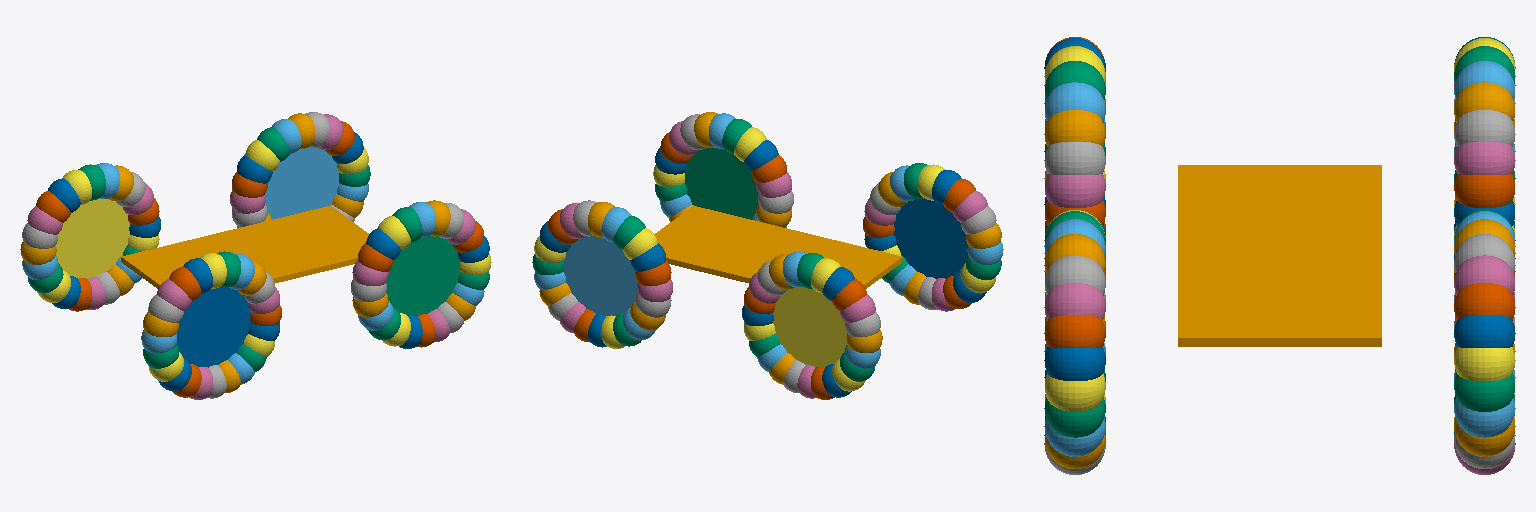
--- Render facts (derived) ---
3 views of the same robot in one strip: view 1: azimuth 30°, elevation 25°; view 2: azimuth 150°, elevation 25°; view 3: azimuth 270°, elevation 25° (orthographic).
Model omni_wheel_base with 101 links and 100 joints (100 continuous), rooted at base, posed every joint at zero.
Visible links, largest first — view 1: base, rear_right_main_wheel, rear_left_main_wheel, front_right_main_wheel, front_left_main_wheel, rear_right_wheel_10, front_left_wheel_10, front_right_wheel_10, rear_left_wheel_10, front_left_wheel_11, front_right_wheel_11, rear_right_wheel_11 (+21 smaller); view 2: base, rear_left_main_wheel, rear_right_main_wheel, front_left_main_wheel, front_right_main_wheel, rear_left_wheel_10, front_left_wheel_10, front_right_wheel_10, rear_right_wheel_10, front_left_wheel_11, front_right_wheel_11, rear_left_wheel_11 (+21 smaller); view 3: base, front_left_wheel_3, front_right_wheel_3, rear_left_wheel_3, rear_right_wheel_3, front_left_wheel_2, front_right_wheel_2, rear_left_wheel_2, rear_right_wheel_2, rear_left_wheel_4, rear_right_wheel_4, front_left_wheel_4 (+23 smaller).
Link boxes in pixels (bbox=[...]): base: bbox=[121, 206, 368, 288]; rear_right_main_wheel: bbox=[177, 287, 250, 367]; rear_left_main_wheel: bbox=[56, 198, 129, 278]; front_right_main_wheel: bbox=[386, 236, 459, 315]; front_left_main_wheel: bbox=[265, 148, 338, 219]; rear_right_wheel_10: bbox=[157, 279, 191, 310]; front_left_wheel_10: bbox=[245, 140, 279, 171]; front_right_wheel_10: bbox=[366, 228, 400, 259]; rear_left_wheel_10: bbox=[36, 191, 70, 222]; front_left_wheel_11: bbox=[237, 155, 272, 183]; front_right_wheel_11: bbox=[358, 243, 393, 271]; rear_right_wheel_11: bbox=[148, 294, 183, 322]; base: bbox=[655, 206, 902, 288]; rear_left_main_wheel: bbox=[773, 287, 846, 367]; rear_right_main_wheel: bbox=[894, 198, 967, 278]; front_left_main_wheel: bbox=[564, 236, 637, 315]; front_right_main_wheel: bbox=[685, 148, 758, 219]; rear_left_wheel_10: bbox=[832, 279, 866, 310]; front_left_wheel_10: bbox=[623, 228, 657, 259]; front_right_wheel_10: bbox=[744, 140, 778, 171]; rear_right_wheel_10: bbox=[953, 191, 987, 222]; front_left_wheel_11: bbox=[630, 243, 665, 271]; front_right_wheel_11: bbox=[751, 155, 786, 183]; rear_left_wheel_11: bbox=[840, 294, 875, 322]; base: bbox=[1178, 165, 1381, 346]; front_left_wheel_3: bbox=[1454, 315, 1515, 347]; front_right_wheel_3: bbox=[1044, 315, 1105, 347]; rear_left_wheel_3: bbox=[1454, 142, 1515, 174]; rear_right_wheel_3: bbox=[1044, 142, 1105, 174]; front_left_wheel_2: bbox=[1454, 347, 1515, 380]; front_right_wheel_2: bbox=[1044, 347, 1105, 380]; rear_left_wheel_2: bbox=[1454, 174, 1514, 207]; rear_right_wheel_2: bbox=[1045, 174, 1105, 207]; rear_left_wheel_4: bbox=[1454, 110, 1515, 146]; rear_right_wheel_4: bbox=[1044, 110, 1105, 146]; front_left_wheel_4: bbox=[1454, 283, 1515, 320].
Bounding box of the posed robot: 6.6 × 4.6 × 2.6 m (x, y, z).
Geometry: primitives only (box / cylinder / sphere), no mesh files.

URDF robot description (omni_wheel_base):
<?xml version="1.0" ?>
<!-- =================================================================================== -->
<!-- |    This document was autogenerated by xacro from objects/omni_wheel.urdf.xacro  | -->
<!-- |    EDITING THIS FILE BY HAND IS NOT RECOMMENDED                                 | -->
<!-- =================================================================================== -->
<robot name="omni_wheel_base">
  <link name="base">
    <inertial>
      <mass value="10.0"/>
      <origin xyz="0 0 0"/>
      <inertia ixx="1.0" ixy="0.0" ixz="0.0" iyy="1.0" iyz="0.0" izz="1.0"/>
    </inertial>
    <visual>
      <origin rpy="0 0 0" xyz="0 0 0"/>
      <geometry>
        <box size="4.0 2.0 0.1"/>
      </geometry>
    </visual>
    <collision>
      <origin rpy="0 0 0" xyz="0 0 0"/>
      <geometry>
        <box size="4.0 2.0 0.1"/>
      </geometry>
    </collision>
  </link>
  <gazebo>
    <pose>0 0 1.2 0 0 0</pose>
  </gazebo>
  <gazebo reference="base">
    <material>Gazebo/Blue</material>
    <turnGravityOff>false</turnGravityOff>
  </gazebo>
  <link name="front_left_main_wheel">
    <inertial>
      <origin xyz="0 0 0"/>
      <mass value="1.0"/>
      <inertia ixx="1.0" ixy="0.0" ixz="0.0" iyy="1.0" iyz="0.0" izz="1.0"/>
    </inertial>
    <visual>
      <origin rpy="0 0 0" xyz="0 0 0"/>
      <geometry>
        <cylinder length="0.1" radius="1"/>
      </geometry>
    </visual>
    <collision>
      <origin rpy="0 0 0 " xyz="0 0 0"/>
      <geometry>
        <cylinder length="0.1" radius="1"/>
      </geometry>
    </collision>
  </link>
  <gazebo reference="front_left_main_wheel_joint">
    <cfm_damping>1</cfm_damping>
  </gazebo>
  <joint name="front_left_main_wheel_joint" type="continuous">
    <parent link="base"/>
    <child link="front_left_main_wheel"/>
    <axis xyz="0 0 1"/>
    <origin rpy="1.57079632679 0 0" xyz="2 2 0"/>
    <dynamics damping="1.0"/>
  </joint>
  <gazebo reference="main_wheel">
    <material>Gazebo/Blue</material>
    <turnGravityOff>false</turnGravityOff>
  </gazebo>
  <link name="front_left_wheel_1">
    <inertial>
      <origin xyz="0 0 0"/>
      <mass value="1.0"/>
      <inertia ixx="1.0" ixy="0.0" ixz="0.0" iyy="1.0" iyz="0.0" izz="1.0"/>
    </inertial>
    <visual>
      <origin rpy="0 0 0" xyz="0 0 0"/>
      <geometry>
        <sphere radius="0.3"/>
      </geometry>
    </visual>
    <collision>
      <origin rpy="0 0 0 " xyz="0 0 0"/>
      <geometry>
        <sphere radius="0.3"/>
      </geometry>
    </collision>
  </link>
  <gazebo reference="front_left_wheel_1">
    <material>Gazebo/Red</material>
    <turnGravityOff>false</turnGravityOff>
  </gazebo>
  <gazebo reference="front_left_wheel_1_joint">
    <cfm_damping>1</cfm_damping>
  </gazebo>
  <joint name="front_left_wheel_1_joint" type="continuous">
    <parent link="front_left_main_wheel"/>
    <child link="front_left_wheel_1"/>
    <origin rpy="0 0 0" xyz="1.000000 0.000000 0.000000"/>
    <axis xyz="0.000000 0.707107 0.707107"/>
    <dynamics damping="1.0"/>
  </joint>
  <link name="front_left_wheel_2">
    <inertial>
      <origin xyz="0 0 0"/>
      <mass value="1.0"/>
      <inertia ixx="1.0" ixy="0.0" ixz="0.0" iyy="1.0" iyz="0.0" izz="1.0"/>
    </inertial>
    <visual>
      <origin rpy="0 0 0" xyz="0 0 0"/>
      <geometry>
        <sphere radius="0.3"/>
      </geometry>
    </visual>
    <collision>
      <origin rpy="0 0 0 " xyz="0 0 0"/>
      <geometry>
        <sphere radius="0.3"/>
      </geometry>
    </collision>
  </link>
  <gazebo reference="front_left_wheel_2">
    <material>Gazebo/Red</material>
    <turnGravityOff>false</turnGravityOff>
  </gazebo>
  <gazebo reference="front_left_wheel_2_joint">
    <cfm_damping>1</cfm_damping>
  </gazebo>
  <joint name="front_left_wheel_2_joint" type="continuous">
    <parent link="front_left_main_wheel"/>
    <child link="front_left_wheel_2"/>
    <origin rpy="0 0 0" xyz="0.965926 0.258819 0.000000"/>
    <axis xyz="-0.183013 0.683013 0.707107"/>
    <dynamics damping="1.0"/>
  </joint>
  <link name="front_left_wheel_3">
    <inertial>
      <origin xyz="0 0 0"/>
      <mass value="1.0"/>
      <inertia ixx="1.0" ixy="0.0" ixz="0.0" iyy="1.0" iyz="0.0" izz="1.0"/>
    </inertial>
    <visual>
      <origin rpy="0 0 0" xyz="0 0 0"/>
      <geometry>
        <sphere radius="0.3"/>
      </geometry>
    </visual>
    <collision>
      <origin rpy="0 0 0 " xyz="0 0 0"/>
      <geometry>
        <sphere radius="0.3"/>
      </geometry>
    </collision>
  </link>
  <gazebo reference="front_left_wheel_3">
    <material>Gazebo/Red</material>
    <turnGravityOff>false</turnGravityOff>
  </gazebo>
  <gazebo reference="front_left_wheel_3_joint">
    <cfm_damping>1</cfm_damping>
  </gazebo>
  <joint name="front_left_wheel_3_joint" type="continuous">
    <parent link="front_left_main_wheel"/>
    <child link="front_left_wheel_3"/>
    <origin rpy="0 0 0" xyz="0.866025 0.500000 0.000000"/>
    <axis xyz="-0.353553 0.612372 0.707107"/>
    <dynamics damping="1.0"/>
  </joint>
  <link name="front_left_wheel_4">
    <inertial>
      <origin xyz="0 0 0"/>
      <mass value="1.0"/>
      <inertia ixx="1.0" ixy="0.0" ixz="0.0" iyy="1.0" iyz="0.0" izz="1.0"/>
    </inertial>
    <visual>
      <origin rpy="0 0 0" xyz="0 0 0"/>
      <geometry>
        <sphere radius="0.3"/>
      </geometry>
    </visual>
    <collision>
      <origin rpy="0 0 0 " xyz="0 0 0"/>
      <geometry>
        <sphere radius="0.3"/>
      </geometry>
    </collision>
  </link>
  <gazebo reference="front_left_wheel_4">
    <material>Gazebo/Red</material>
    <turnGravityOff>false</turnGravityOff>
  </gazebo>
  <gazebo reference="front_left_wheel_4_joint">
    <cfm_damping>1</cfm_damping>
  </gazebo>
  <joint name="front_left_wheel_4_joint" type="continuous">
    <parent link="front_left_main_wheel"/>
    <child link="front_left_wheel_4"/>
    <origin rpy="0 0 0" xyz="0.707107 0.707107 0.000000"/>
    <axis xyz="-0.500000 0.500000 0.707107"/>
    <dynamics damping="1.0"/>
  </joint>
  <link name="front_left_wheel_5">
    <inertial>
      <origin xyz="0 0 0"/>
      <mass value="1.0"/>
      <inertia ixx="1.0" ixy="0.0" ixz="0.0" iyy="1.0" iyz="0.0" izz="1.0"/>
    </inertial>
    <visual>
      <origin rpy="0 0 0" xyz="0 0 0"/>
      <geometry>
        <sphere radius="0.3"/>
      </geometry>
    </visual>
    <collision>
      <origin rpy="0 0 0 " xyz="0 0 0"/>
      <geometry>
        <sphere radius="0.3"/>
      </geometry>
    </collision>
  </link>
  <gazebo reference="front_left_wheel_5">
    <material>Gazebo/Red</material>
    <turnGravityOff>false</turnGravityOff>
  </gazebo>
  <gazebo reference="front_left_wheel_5_joint">
    <cfm_damping>1</cfm_damping>
  </gazebo>
  <joint name="front_left_wheel_5_joint" type="continuous">
    <parent link="front_left_main_wheel"/>
    <child link="front_left_wheel_5"/>
    <origin rpy="0 0 0" xyz="0.500000 0.866025 0.000000"/>
    <axis xyz="-0.612372 0.353553 0.707107"/>
    <dynamics damping="1.0"/>
  </joint>
  <link name="front_left_wheel_6">
    <inertial>
      <origin xyz="0 0 0"/>
      <mass value="1.0"/>
      <inertia ixx="1.0" ixy="0.0" ixz="0.0" iyy="1.0" iyz="0.0" izz="1.0"/>
    </inertial>
    <visual>
      <origin rpy="0 0 0" xyz="0 0 0"/>
      <geometry>
        <sphere radius="0.3"/>
      </geometry>
    </visual>
    <collision>
      <origin rpy="0 0 0 " xyz="0 0 0"/>
      <geometry>
        <sphere radius="0.3"/>
      </geometry>
    </collision>
  </link>
  <gazebo reference="front_left_wheel_6">
    <material>Gazebo/Red</material>
    <turnGravityOff>false</turnGravityOff>
  </gazebo>
  <gazebo reference="front_left_wheel_6_joint">
    <cfm_damping>1</cfm_damping>
  </gazebo>
  <joint name="front_left_wheel_6_joint" type="continuous">
    <parent link="front_left_main_wheel"/>
    <child link="front_left_wheel_6"/>
    <origin rpy="0 0 0" xyz="0.258819 0.965926 0.000000"/>
    <axis xyz="-0.683013 0.183013 0.707107"/>
    <dynamics damping="1.0"/>
  </joint>
  <link name="front_left_wheel_7">
    <inertial>
      <origin xyz="0 0 0"/>
      <mass value="1.0"/>
      <inertia ixx="1.0" ixy="0.0" ixz="0.0" iyy="1.0" iyz="0.0" izz="1.0"/>
    </inertial>
    <visual>
      <origin rpy="0 0 0" xyz="0 0 0"/>
      <geometry>
        <sphere radius="0.3"/>
      </geometry>
    </visual>
    <collision>
      <origin rpy="0 0 0 " xyz="0 0 0"/>
      <geometry>
        <sphere radius="0.3"/>
      </geometry>
    </collision>
  </link>
  <gazebo reference="front_left_wheel_7">
    <material>Gazebo/Red</material>
    <turnGravityOff>false</turnGravityOff>
  </gazebo>
  <gazebo reference="front_left_wheel_7_joint">
    <cfm_damping>1</cfm_damping>
  </gazebo>
  <joint name="front_left_wheel_7_joint" type="continuous">
    <parent link="front_left_main_wheel"/>
    <child link="front_left_wheel_7"/>
    <origin rpy="0 0 0" xyz="0.000000 1.000000 0.000000"/>
    <axis xyz="-0.707107 0.000000 0.707107"/>
    <dynamics damping="1.0"/>
  </joint>
  <link name="front_left_wheel_8">
    <inertial>
      <origin xyz="0 0 0"/>
      <mass value="1.0"/>
      <inertia ixx="1.0" ixy="0.0" ixz="0.0" iyy="1.0" iyz="0.0" izz="1.0"/>
    </inertial>
    <visual>
      <origin rpy="0 0 0" xyz="0 0 0"/>
      <geometry>
        <sphere radius="0.3"/>
      </geometry>
    </visual>
    <collision>
      <origin rpy="0 0 0 " xyz="0 0 0"/>
      <geometry>
        <sphere radius="0.3"/>
      </geometry>
    </collision>
  </link>
  <gazebo reference="front_left_wheel_8">
    <material>Gazebo/Red</material>
    <turnGravityOff>false</turnGravityOff>
  </gazebo>
  <gazebo reference="front_left_wheel_8_joint">
    <cfm_damping>1</cfm_damping>
  </gazebo>
  <joint name="front_left_wheel_8_joint" type="continuous">
    <parent link="front_left_main_wheel"/>
    <child link="front_left_wheel_8"/>
    <origin rpy="0 0 0" xyz="-0.258819 0.965926 0.000000"/>
    <axis xyz="-0.683013 -0.183013 0.707107"/>
    <dynamics damping="1.0"/>
  </joint>
  <link name="front_left_wheel_9">
    <inertial>
      <origin xyz="0 0 0"/>
      <mass value="1.0"/>
      <inertia ixx="1.0" ixy="0.0" ixz="0.0" iyy="1.0" iyz="0.0" izz="1.0"/>
    </inertial>
    <visual>
      <origin rpy="0 0 0" xyz="0 0 0"/>
      <geometry>
        <sphere radius="0.3"/>
      </geometry>
    </visual>
    <collision>
      <origin rpy="0 0 0 " xyz="0 0 0"/>
      <geometry>
        <sphere radius="0.3"/>
      </geometry>
    </collision>
  </link>
  <gazebo reference="front_left_wheel_9">
    <material>Gazebo/Red</material>
    <turnGravityOff>false</turnGravityOff>
  </gazebo>
  <gazebo reference="front_left_wheel_9_joint">
    <cfm_damping>1</cfm_damping>
  </gazebo>
  <joint name="front_left_wheel_9_joint" type="continuous">
    <parent link="front_left_main_wheel"/>
    <child link="front_left_wheel_9"/>
    <origin rpy="0 0 0" xyz="-0.500000 0.866025 0.000000"/>
    <axis xyz="-0.612372 -0.353553 0.707107"/>
    <dynamics damping="1.0"/>
  </joint>
  <link name="front_left_wheel_10">
    <inertial>
      <origin xyz="0 0 0"/>
      <mass value="1.0"/>
      <inertia ixx="1.0" ixy="0.0" ixz="0.0" iyy="1.0" iyz="0.0" izz="1.0"/>
    </inertial>
    <visual>
      <origin rpy="0 0 0" xyz="0 0 0"/>
      <geometry>
        <sphere radius="0.3"/>
      </geometry>
    </visual>
    <collision>
      <origin rpy="0 0 0 " xyz="0 0 0"/>
      <geometry>
        <sphere radius="0.3"/>
      </geometry>
    </collision>
  </link>
  <gazebo reference="front_left_wheel_10">
    <material>Gazebo/Red</material>
    <turnGravityOff>false</turnGravityOff>
  </gazebo>
  <gazebo reference="front_left_wheel_10_joint">
    <cfm_damping>1</cfm_damping>
  </gazebo>
  <joint name="front_left_wheel_10_joint" type="continuous">
    <parent link="front_left_main_wheel"/>
    <child link="front_left_wheel_10"/>
    <origin rpy="0 0 0" xyz="-0.707107 0.707107 0.000000"/>
    <axis xyz="-0.500000 -0.500000 0.707107"/>
    <dynamics damping="1.0"/>
  </joint>
  <link name="front_left_wheel_11">
    <inertial>
      <origin xyz="0 0 0"/>
      <mass value="1.0"/>
      <inertia ixx="1.0" ixy="0.0" ixz="0.0" iyy="1.0" iyz="0.0" izz="1.0"/>
    </inertial>
    <visual>
      <origin rpy="0 0 0" xyz="0 0 0"/>
      <geometry>
        <sphere radius="0.3"/>
      </geometry>
    </visual>
    <collision>
      <origin rpy="0 0 0 " xyz="0 0 0"/>
      <geometry>
        <sphere radius="0.3"/>
      </geometry>
    </collision>
  </link>
  <gazebo reference="front_left_wheel_11">
    <material>Gazebo/Red</material>
    <turnGravityOff>false</turnGravityOff>
  </gazebo>
  <gazebo reference="front_left_wheel_11_joint">
    <cfm_damping>1</cfm_damping>
  </gazebo>
  <joint name="front_left_wheel_11_joint" type="continuous">
    <parent link="front_left_main_wheel"/>
    <child link="front_left_wheel_11"/>
    <origin rpy="0 0 0" xyz="-0.866025 0.500000 0.000000"/>
    <axis xyz="-0.353553 -0.612372 0.707107"/>
    <dynamics damping="1.0"/>
  </joint>
  <link name="front_left_wheel_12">
    <inertial>
      <origin xyz="0 0 0"/>
      <mass value="1.0"/>
      <inertia ixx="1.0" ixy="0.0" ixz="0.0" iyy="1.0" iyz="0.0" izz="1.0"/>
    </inertial>
    <visual>
      <origin rpy="0 0 0" xyz="0 0 0"/>
      <geometry>
        <sphere radius="0.3"/>
      </geometry>
    </visual>
    <collision>
      <origin rpy="0 0 0 " xyz="0 0 0"/>
      <geometry>
        <sphere radius="0.3"/>
      </geometry>
    </collision>
  </link>
  <gazebo reference="front_left_wheel_12">
    <material>Gazebo/Red</material>
    <turnGravityOff>false</turnGravityOff>
  </gazebo>
  <gazebo reference="front_left_wheel_12_joint">
    <cfm_damping>1</cfm_damping>
  </gazebo>
  <joint name="front_left_wheel_12_joint" type="continuous">
    <parent link="front_left_main_wheel"/>
    <child link="front_left_wheel_12"/>
    <origin rpy="0 0 0" xyz="-0.965926 0.258819 0.000000"/>
    <axis xyz="-0.183013 -0.683013 0.707107"/>
    <dynamics damping="1.0"/>
  </joint>
  <link name="front_left_wheel_13">
    <inertial>
      <origin xyz="0 0 0"/>
      <mass value="1.0"/>
      <inertia ixx="1.0" ixy="0.0" ixz="0.0" iyy="1.0" iyz="0.0" izz="1.0"/>
    </inertial>
    <visual>
      <origin rpy="0 0 0" xyz="0 0 0"/>
      <geometry>
        <sphere radius="0.3"/>
      </geometry>
    </visual>
    <collision>
      <origin rpy="0 0 0 " xyz="0 0 0"/>
      <geometry>
        <sphere radius="0.3"/>
      </geometry>
    </collision>
  </link>
  <gazebo reference="front_left_wheel_13">
    <material>Gazebo/Red</material>
    <turnGravityOff>false</turnGravityOff>
  </gazebo>
  <gazebo reference="front_left_wheel_13_joint">
    <cfm_damping>1</cfm_damping>
  </gazebo>
  <joint name="front_left_wheel_13_joint" type="continuous">
    <parent link="front_left_main_wheel"/>
    <child link="front_left_wheel_13"/>
    <origin rpy="0 0 0" xyz="-1.000000 0.000000 0.000000"/>
    <axis xyz="0.000000 -0.707107 0.707107"/>
    <dynamics damping="1.0"/>
  </joint>
  <link name="front_left_wheel_14">
    <inertial>
      <origin xyz="0 0 0"/>
      <mass value="1.0"/>
      <inertia ixx="1.0" ixy="0.0" ixz="0.0" iyy="1.0" iyz="0.0" izz="1.0"/>
    </inertial>
    <visual>
      <origin rpy="0 0 0" xyz="0 0 0"/>
      <geometry>
        <sphere radius="0.3"/>
      </geometry>
    </visual>
    <collision>
      <origin rpy="0 0 0 " xyz="0 0 0"/>
      <geometry>
        <sphere radius="0.3"/>
      </geometry>
    </collision>
  </link>
  <gazebo reference="front_left_wheel_14">
    <material>Gazebo/Red</material>
    <turnGravityOff>false</turnGravityOff>
  </gazebo>
  <gazebo reference="front_left_wheel_14_joint">
    <cfm_damping>1</cfm_damping>
  </gazebo>
  <joint name="front_left_wheel_14_joint" type="continuous">
    <parent link="front_left_main_wheel"/>
    <child link="front_left_wheel_14"/>
    <origin rpy="0 0 0" xyz="-0.965926 -0.258819 0.000000"/>
    <axis xyz="0.183013 -0.683013 0.707107"/>
    <dynamics damping="1.0"/>
  </joint>
  <link name="front_left_wheel_15">
    <inertial>
      <origin xyz="0 0 0"/>
      <mass value="1.0"/>
      <inertia ixx="1.0" ixy="0.0" ixz="0.0" iyy="1.0" iyz="0.0" izz="1.0"/>
    </inertial>
    <visual>
      <origin rpy="0 0 0" xyz="0 0 0"/>
      <geometry>
        <sphere radius="0.3"/>
      </geometry>
    </visual>
    <collision>
      <origin rpy="0 0 0 " xyz="0 0 0"/>
      <geometry>
        <sphere radius="0.3"/>
      </geometry>
    </collision>
  </link>
  <gazebo reference="front_left_wheel_15">
    <material>Gazebo/Red</material>
    <turnGravityOff>false</turnGravityOff>
  </gazebo>
  <gazebo reference="front_left_wheel_15_joint">
    <cfm_damping>1</cfm_damping>
  </gazebo>
  <joint name="front_left_wheel_15_joint" type="continuous">
    <parent link="front_left_main_wheel"/>
    <child link="front_left_wheel_15"/>
    <origin rpy="0 0 0" xyz="-0.866025 -0.500000 0.000000"/>
    <axis xyz="0.353553 -0.612372 0.707107"/>
    <dynamics damping="1.0"/>
  </joint>
  <link name="front_left_wheel_16">
    <inertial>
      <origin xyz="0 0 0"/>
      <mass value="1.0"/>
      <inertia ixx="1.0" ixy="0.0" ixz="0.0" iyy="1.0" iyz="0.0" izz="1.0"/>
    </inertial>
    <visual>
      <origin rpy="0 0 0" xyz="0 0 0"/>
      <geometry>
        <sphere radius="0.3"/>
      </geometry>
    </visual>
    <collision>
      <origin rpy="0 0 0 " xyz="0 0 0"/>
      <geometry>
        <sphere radius="0.3"/>
      </geometry>
    </collision>
  </link>
  <gazebo reference="front_left_wheel_16">
    <material>Gazebo/Red</material>
    <turnGravityOff>false</turnGravityOff>
  </gazebo>
  <gazebo reference="front_left_wheel_16_joint">
    <cfm_damping>1</cfm_damping>
  </gazebo>
  <joint name="front_left_wheel_16_joint" type="continuous">
    <parent link="front_left_main_wheel"/>
    <child link="front_left_wheel_16"/>
    <origin rpy="0 0 0" xyz="-0.707107 -0.707107 0.000000"/>
    <axis xyz="0.500000 -0.500000 0.707107"/>
    <dynamics damping="1.0"/>
  </joint>
  <link name="front_left_wheel_17">
    <inertial>
      <origin xyz="0 0 0"/>
      <mass value="1.0"/>
      <inertia ixx="1.0" ixy="0.0" ixz="0.0" iyy="1.0" iyz="0.0" izz="1.0"/>
    </inertial>
    <visual>
      <origin rpy="0 0 0" xyz="0 0 0"/>
      <geometry>
        <sphere radius="0.3"/>
      </geometry>
    </visual>
    <collision>
      <origin rpy="0 0 0 " xyz="0 0 0"/>
      <geometry>
        <sphere radius="0.3"/>
      </geometry>
    </collision>
  </link>
  <gazebo reference="front_left_wheel_17">
    <material>Gazebo/Red</material>
    <turnGravityOff>false</turnGravityOff>
  </gazebo>
  <gazebo reference="front_left_wheel_17_joint">
    <cfm_damping>1</cfm_damping>
  </gazebo>
  <joint name="front_left_wheel_17_joint" type="continuous">
    <parent link="front_left_main_wheel"/>
    <child link="front_left_wheel_17"/>
    <origin rpy="0 0 0" xyz="-0.500000 -0.866025 0.000000"/>
    <axis xyz="0.612372 -0.353553 0.707107"/>
    <dynamics damping="1.0"/>
  </joint>
  <link name="front_left_wheel_18">
    <inertial>
      <origin xyz="0 0 0"/>
      <mass value="1.0"/>
      <inertia ixx="1.0" ixy="0.0" ixz="0.0" iyy="1.0" iyz="0.0" izz="1.0"/>
    </inertial>
    <visual>
      <origin rpy="0 0 0" xyz="0 0 0"/>
      <geometry>
        <sphere radius="0.3"/>
      </geometry>
    </visual>
    <collision>
      <origin rpy="0 0 0 " xyz="0 0 0"/>
      <geometry>
        <sphere radius="0.3"/>
      </geometry>
    </collision>
  </link>
  <gazebo reference="front_left_wheel_18">
    <material>Gazebo/Red</material>
    <turnGravityOff>false</turnGravityOff>
  </gazebo>
  <gazebo reference="front_left_wheel_18_joint">
    <cfm_damping>1</cfm_damping>
  </gazebo>
  <joint name="front_left_wheel_18_joint" type="continuous">
    <parent link="front_left_main_wheel"/>
    <child link="front_left_wheel_18"/>
    <origin rpy="0 0 0" xyz="-0.258819 -0.965926 0.000000"/>
    <axis xyz="0.683013 -0.183013 0.707107"/>
    <dynamics damping="1.0"/>
  </joint>
  <link name="front_left_wheel_19">
    <inertial>
      <origin xyz="0 0 0"/>
      <mass value="1.0"/>
      <inertia ixx="1.0" ixy="0.0" ixz="0.0" iyy="1.0" iyz="0.0" izz="1.0"/>
    </inertial>
    <visual>
      <origin rpy="0 0 0" xyz="0 0 0"/>
      <geometry>
        <sphere radius="0.3"/>
      </geometry>
    </visual>
    <collision>
      <origin rpy="0 0 0 " xyz="0 0 0"/>
      <geometry>
        <sphere radius="0.3"/>
      </geometry>
    </collision>
  </link>
  <gazebo reference="front_left_wheel_19">
    <material>Gazebo/Red</material>
    <turnGravityOff>false</turnGravityOff>
  </gazebo>
  <gazebo reference="front_left_wheel_19_joint">
    <cfm_damping>1</cfm_damping>
  </gazebo>
  <joint name="front_left_wheel_19_joint" type="continuous">
    <parent link="front_left_main_wheel"/>
    <child link="front_left_wheel_19"/>
    <origin rpy="0 0 0" xyz="0.000000 -1.000000 0.000000"/>
    <axis xyz="0.707107 0.000000 0.707107"/>
    <dynamics damping="1.0"/>
  </joint>
  <link name="front_left_wheel_20">
    <inertial>
      <origin xyz="0 0 0"/>
      <mass value="1.0"/>
      <inertia ixx="1.0" ixy="0.0" ixz="0.0" iyy="1.0" iyz="0.0" izz="1.0"/>
    </inertial>
    <visual>
      <origin rpy="0 0 0" xyz="0 0 0"/>
      <geometry>
        <sphere radius="0.3"/>
      </geometry>
    </visual>
    <collision>
      <origin rpy="0 0 0 " xyz="0 0 0"/>
      <geometry>
        <sphere radius="0.3"/>
      </geometry>
    </collision>
  </link>
  <gazebo reference="front_left_wheel_20">
    <material>Gazebo/Red</material>
    <turnGravityOff>false</turnGravityOff>
  </gazebo>
  <gazebo reference="front_left_wheel_20_joint">
    <cfm_damping>1</cfm_damping>
  </gazebo>
  <joint name="front_left_wheel_20_joint" type="continuous">
    <parent link="front_left_main_wheel"/>
    <child link="front_left_wheel_20"/>
    <origin rpy="0 0 0" xyz="0.258819 -0.965926 0.000000"/>
    <axis xyz="0.683013 0.183013 0.707107"/>
    <dynamics damping="1.0"/>
  </joint>
  <link name="front_left_wheel_21">
    <inertial>
      <origin xyz="0 0 0"/>
      <mass value="1.0"/>
      <inertia ixx="1.0" ixy="0.0" ixz="0.0" iyy="1.0" iyz="0.0" izz="1.0"/>
    </inertial>
    <visual>
      <origin rpy="0 0 0" xyz="0 0 0"/>
      <geometry>
        <sphere radius="0.3"/>
      </geometry>
    </visual>
    <collision>
      <origin rpy="0 0 0 " xyz="0 0 0"/>
      <geometry>
        <sphere radius="0.3"/>
      </geometry>
    </collision>
  </link>
  <gazebo reference="front_left_wheel_21">
    <material>Gazebo/Red</material>
    <turnGravityOff>false</turnGravityOff>
  </gazebo>
  <gazebo reference="front_left_wheel_21_joint">
    <cfm_damping>1</cfm_damping>
  </gazebo>
  <joint name="front_left_wheel_21_joint" type="continuous">
    <parent link="front_left_main_wheel"/>
    <child link="front_left_wheel_21"/>
    <origin rpy="0 0 0" xyz="0.500000 -0.866025 0.000000"/>
    <axis xyz="0.612372 0.353553 0.707107"/>
    <dynamics damping="1.0"/>
  </joint>
  <link name="front_left_wheel_22">
    <inertial>
      <origin xyz="0 0 0"/>
      <mass value="1.0"/>
      <inertia ixx="1.0" ixy="0.0" ixz="0.0" iyy="1.0" iyz="0.0" izz="1.0"/>
    </inertial>
    <visual>
      <origin rpy="0 0 0" xyz="0 0 0"/>
      <geometry>
        <sphere radius="0.3"/>
      </geometry>
    </visual>
    <collision>
      <origin rpy="0 0 0 " xyz="0 0 0"/>
      <geometry>
        <sphere radius="0.3"/>
      </geometry>
    </collision>
  </link>
  <gazebo reference="front_left_wheel_22">
    <material>Gazebo/Red</material>
    <turnGravityOff>false</turnGravityOff>
  </gazebo>
  <gazebo reference="front_left_wheel_22_joint">
    <cfm_damping>1</cfm_damping>
  </gazebo>
  <joint name="front_left_wheel_22_joint" type="continuous">
    <parent link="front_left_main_wheel"/>
    <child link="front_left_wheel_22"/>
    <origin rpy="0 0 0" xyz="0.707107 -0.707107 0.000000"/>
    <axis xyz="0.500000 0.500000 0.707107"/>
    <dynamics damping="1.0"/>
  </joint>
  <link name="front_left_wheel_23">
    <inertial>
      <origin xyz="0 0 0"/>
      <mass value="1.0"/>
      <inertia ixx="1.0" ixy="0.0" ixz="0.0" iyy="1.0" iyz="0.0" izz="1.0"/>
    </inertial>
    <visual>
      <origin rpy="0 0 0" xyz="0 0 0"/>
      <geometry>
        <sphere radius="0.3"/>
      </geometry>
    </visual>
    <collision>
      <origin rpy="0 0 0 " xyz="0 0 0"/>
      <geometry>
        <sphere radius="0.3"/>
      </geometry>
    </collision>
  </link>
  <gazebo reference="front_left_wheel_23">
    <material>Gazebo/Red</material>
    <turnGravityOff>false</turnGravityOff>
  </gazebo>
  <gazebo reference="front_left_wheel_23_joint">
    <cfm_damping>1</cfm_damping>
  </gazebo>
  <joint name="front_left_wheel_23_joint" type="continuous">
    <parent link="front_left_main_wheel"/>
    <child link="front_left_wheel_23"/>
    <origin rpy="0 0 0" xyz="0.866025 -0.500000 0.000000"/>
    <axis xyz="0.353553 0.612372 0.707107"/>
    <dynamics damping="1.0"/>
  </joint>
  <link name="front_left_wheel_24">
    <inertial>
      <origin xyz="0 0 0"/>
      <mass value="1.0"/>
      <inertia ixx="1.0" ixy="0.0" ixz="0.0" iyy="1.0" iyz="0.0" izz="1.0"/>
    </inertial>
    <visual>
      <origin rpy="0 0 0" xyz="0 0 0"/>
      <geometry>
        <sphere radius="0.3"/>
      </geometry>
    </visual>
    <collision>
      <origin rpy="0 0 0 " xyz="0 0 0"/>
      <geometry>
        <sphere radius="0.3"/>
      </geometry>
    </collision>
  </link>
  <gazebo reference="front_left_wheel_24">
    <material>Gazebo/Red</material>
    <turnGravityOff>false</turnGravityOff>
  </gazebo>
  <gazebo reference="front_left_wheel_24_joint">
    <cfm_damping>1</cfm_damping>
  </gazebo>
  <joint name="front_left_wheel_24_joint" type="continuous">
    <parent link="front_left_main_wheel"/>
    <child link="front_left_wheel_24"/>
    <origin rpy="0 0 0" xyz="0.965926 -0.258819 0.000000"/>
    <axis xyz="0.183013 0.683013 0.707107"/>
    <dynamics damping="1.0"/>
  </joint>
  <link name="front_right_main_wheel">
    <inertial>
      <origin xyz="0 0 0"/>
      <mass value="1.0"/>
      <inertia ixx="1.0" ixy="0.0" ixz="0.0" iyy="1.0" iyz="0.0" izz="1.0"/>
    </inertial>
    <visual>
      <origin rpy="0 0 0" xyz="0 0 0"/>
      <geometry>
        <cylinder length="0.1" radius="1"/>
      </geometry>
    </visual>
    <collision>
      <origin rpy="0 0 0 " xyz="0 0 0"/>
      <geometry>
        <cylinder length="0.1" radius="1"/>
      </geometry>
    </collision>
  </link>
  <gazebo reference="front_right_main_wheel_joint">
    <cfm_damping>1</cfm_damping>
  </gazebo>
  <joint name="front_right_main_wheel_joint" type="continuous">
    <parent link="base"/>
    <child link="front_right_main_wheel"/>
    <axis xyz="0 0 1"/>
    <origin rpy="1.57079632679 0 0" xyz="2 -2 0"/>
    <dynamics damping="1.0"/>
  </joint>
  <gazebo reference="main_wheel">
    <material>Gazebo/Blue</material>
    <turnGravityOff>false</turnGravityOff>
  </gazebo>
  <link name="front_right_wheel_1">
    <inertial>
      <origin xyz="0 0 0"/>
      <mass value="1.0"/>
      <inertia ixx="1.0" ixy="0.0" ixz="0.0" iyy="1.0" iyz="0.0" izz="1.0"/>
    </inertial>
    <visual>
      <origin rpy="0 0 0" xyz="0 0 0"/>
      <geometry>
        <sphere radius="0.3"/>
      </geometry>
    </visual>
    <collision>
      <origin rpy="0 0 0 " xyz="0 0 0"/>
      <geometry>
        <sphere radius="0.3"/>
      </geometry>
    </collision>
  </link>
  <gazebo reference="front_right_wheel_1">
    <material>Gazebo/Red</material>
    <turnGravityOff>false</turnGravityOff>
  </gazebo>
  <gazebo reference="front_right_wheel_1_joint">
    <cfm_damping>1</cfm_damping>
  </gazebo>
  <joint name="front_right_wheel_1_joint" type="continuous">
    <parent link="front_right_main_wheel"/>
    <child link="front_right_wheel_1"/>
    <origin rpy="0 0 0" xyz="1.000000 0.000000 0.000000"/>
    <axis xyz="0.000000 0.707107 -0.707107"/>
    <dynamics damping="1.0"/>
  </joint>
  <link name="front_right_wheel_2">
    <inertial>
      <origin xyz="0 0 0"/>
      <mass value="1.0"/>
      <inertia ixx="1.0" ixy="0.0" ixz="0.0" iyy="1.0" iyz="0.0" izz="1.0"/>
    </inertial>
    <visual>
      <origin rpy="0 0 0" xyz="0 0 0"/>
      <geometry>
        <sphere radius="0.3"/>
      </geometry>
    </visual>
    <collision>
      <origin rpy="0 0 0 " xyz="0 0 0"/>
      <geometry>
        <sphere radius="0.3"/>
      </geometry>
    </collision>
  </link>
  <gazebo reference="front_right_wheel_2">
    <material>Gazebo/Red</material>
    <turnGravityOff>false</turnGravityOff>
  </gazebo>
  <gazebo reference="front_right_wheel_2_joint">
    <cfm_damping>1</cfm_damping>
  </gazebo>
  <joint name="front_right_wheel_2_joint" type="continuous">
    <parent link="front_right_main_wheel"/>
    <child link="front_right_wheel_2"/>
    <origin rpy="0 0 0" xyz="0.965926 0.258819 0.000000"/>
    <axis xyz="-0.183013 0.683013 -0.707107"/>
    <dynamics damping="1.0"/>
  </joint>
  <link name="front_right_wheel_3">
    <inertial>
      <origin xyz="0 0 0"/>
      <mass value="1.0"/>
      <inertia ixx="1.0" ixy="0.0" ixz="0.0" iyy="1.0" iyz="0.0" izz="1.0"/>
    </inertial>
    <visual>
      <origin rpy="0 0 0" xyz="0 0 0"/>
      <geometry>
        <sphere radius="0.3"/>
      </geometry>
    </visual>
    <collision>
      <origin rpy="0 0 0 " xyz="0 0 0"/>
      <geometry>
        <sphere radius="0.3"/>
      </geometry>
    </collision>
  </link>
  <gazebo reference="front_right_wheel_3">
    <material>Gazebo/Red</material>
    <turnGravityOff>false</turnGravityOff>
  </gazebo>
  <gazebo reference="front_right_wheel_3_joint">
    <cfm_damping>1</cfm_damping>
  </gazebo>
  <joint name="front_right_wheel_3_joint" type="continuous">
    <parent link="front_right_main_wheel"/>
    <child link="front_right_wheel_3"/>
    <origin rpy="0 0 0" xyz="0.866025 0.500000 0.000000"/>
    <axis xyz="-0.353553 0.612372 -0.707107"/>
    <dynamics damping="1.0"/>
  </joint>
  <link name="front_right_wheel_4">
    <inertial>
      <origin xyz="0 0 0"/>
      <mass value="1.0"/>
      <inertia ixx="1.0" ixy="0.0" ixz="0.0" iyy="1.0" iyz="0.0" izz="1.0"/>
    </inertial>
    <visual>
      <origin rpy="0 0 0" xyz="0 0 0"/>
      <geometry>
        <sphere radius="0.3"/>
      </geometry>
    </visual>
    <collision>
      <origin rpy="0 0 0 " xyz="0 0 0"/>
      <geometry>
        <sphere radius="0.3"/>
      </geometry>
    </collision>
  </link>
  <gazebo reference="front_right_wheel_4">
    <material>Gazebo/Red</material>
    <turnGravityOff>false</turnGravityOff>
  </gazebo>
  <gazebo reference="front_right_wheel_4_joint">
    <cfm_damping>1</cfm_damping>
  </gazebo>
  <joint name="front_right_wheel_4_joint" type="continuous">
    <parent link="front_right_main_wheel"/>
    <child link="front_right_wheel_4"/>
    <origin rpy="0 0 0" xyz="0.707107 0.707107 0.000000"/>
    <axis xyz="-0.500000 0.500000 -0.707107"/>
    <dynamics damping="1.0"/>
  </joint>
  <link name="front_right_wheel_5">
    <inertial>
      <origin xyz="0 0 0"/>
      <mass value="1.0"/>
      <inertia ixx="1.0" ixy="0.0" ixz="0.0" iyy="1.0" iyz="0.0" izz="1.0"/>
    </inertial>
    <visual>
      <origin rpy="0 0 0" xyz="0 0 0"/>
      <geometry>
        <sphere radius="0.3"/>
      </geometry>
    </visual>
    <collision>
      <origin rpy="0 0 0 " xyz="0 0 0"/>
      <geometry>
        <sphere radius="0.3"/>
      </geometry>
    </collision>
  </link>
  <gazebo reference="front_right_wheel_5">
    <material>Gazebo/Red</material>
    <turnGravityOff>false</turnGravityOff>
  </gazebo>
  <gazebo reference="front_right_wheel_5_joint">
    <cfm_damping>1</cfm_damping>
  </gazebo>
  <joint name="front_right_wheel_5_joint" type="continuous">
    <parent link="front_right_main_wheel"/>
    <child link="front_right_wheel_5"/>
    <origin rpy="0 0 0" xyz="0.500000 0.866025 0.000000"/>
    <axis xyz="-0.612372 0.353553 -0.707107"/>
    <dynamics damping="1.0"/>
  </joint>
  <link name="front_right_wheel_6">
    <inertial>
      <origin xyz="0 0 0"/>
      <mass value="1.0"/>
      <inertia ixx="1.0" ixy="0.0" ixz="0.0" iyy="1.0" iyz="0.0" izz="1.0"/>
    </inertial>
    <visual>
      <origin rpy="0 0 0" xyz="0 0 0"/>
      <geometry>
        <sphere radius="0.3"/>
      </geometry>
    </visual>
    <collision>
      <origin rpy="0 0 0 " xyz="0 0 0"/>
      <geometry>
        <sphere radius="0.3"/>
      </geometry>
    </collision>
  </link>
  <gazebo reference="front_right_wheel_6">
    <material>Gazebo/Red</material>
    <turnGravityOff>false</turnGravityOff>
  </gazebo>
  <gazebo reference="front_right_wheel_6_joint">
    <cfm_damping>1</cfm_damping>
  </gazebo>
  <joint name="front_right_wheel_6_joint" type="continuous">
    <parent link="front_right_main_wheel"/>
    <child link="front_right_wheel_6"/>
    <origin rpy="0 0 0" xyz="0.258819 0.965926 0.000000"/>
    <axis xyz="-0.683013 0.183013 -0.707107"/>
    <dynamics damping="1.0"/>
  </joint>
  <link name="front_right_wheel_7">
    <inertial>
      <origin xyz="0 0 0"/>
      <mass value="1.0"/>
      <inertia ixx="1.0" ixy="0.0" ixz="0.0" iyy="1.0" iyz="0.0" izz="1.0"/>
    </inertial>
    <visual>
      <origin rpy="0 0 0" xyz="0 0 0"/>
      <geometry>
        <sphere radius="0.3"/>
      </geometry>
    </visual>
    <collision>
      <origin rpy="0 0 0 " xyz="0 0 0"/>
      <geometry>
        <sphere radius="0.3"/>
      </geometry>
    </collision>
  </link>
  <gazebo reference="front_right_wheel_7">
    <material>Gazebo/Red</material>
    <turnGravityOff>false</turnGravityOff>
  </gazebo>
  <gazebo reference="front_right_wheel_7_joint">
    <cfm_damping>1</cfm_damping>
  </gazebo>
  <joint name="front_right_wheel_7_joint" type="continuous">
    <parent link="front_right_main_wheel"/>
    <child link="front_right_wheel_7"/>
    <origin rpy="0 0 0" xyz="0.000000 1.000000 0.000000"/>
    <axis xyz="-0.707107 0.000000 -0.707107"/>
    <dynamics damping="1.0"/>
  </joint>
  <link name="front_right_wheel_8">
    <inertial>
      <origin xyz="0 0 0"/>
      <mass value="1.0"/>
      <inertia ixx="1.0" ixy="0.0" ixz="0.0" iyy="1.0" iyz="0.0" izz="1.0"/>
    </inertial>
    <visual>
      <origin rpy="0 0 0" xyz="0 0 0"/>
      <geometry>
        <sphere radius="0.3"/>
      </geometry>
    </visual>
    <collision>
      <origin rpy="0 0 0 " xyz="0 0 0"/>
      <geometry>
        <sphere radius="0.3"/>
      </geometry>
    </collision>
  </link>
  <gazebo reference="front_right_wheel_8">
    <material>Gazebo/Red</material>
    <turnGravityOff>false</turnGravityOff>
  </gazebo>
  <gazebo reference="front_right_wheel_8_joint">
    <cfm_damping>1</cfm_damping>
  </gazebo>
  <joint name="front_right_wheel_8_joint" type="continuous">
    <parent link="front_right_main_wheel"/>
    <child link="front_right_wheel_8"/>
    <origin rpy="0 0 0" xyz="-0.258819 0.965926 0.000000"/>
    <axis xyz="-0.683013 -0.183013 -0.707107"/>
    <dynamics damping="1.0"/>
  </joint>
  <link name="front_right_wheel_9">
    <inertial>
      <origin xyz="0 0 0"/>
      <mass value="1.0"/>
      <inertia ixx="1.0" ixy="0.0" ixz="0.0" iyy="1.0" iyz="0.0" izz="1.0"/>
    </inertial>
    <visual>
      <origin rpy="0 0 0" xyz="0 0 0"/>
      <geometry>
        <sphere radius="0.3"/>
      </geometry>
    </visual>
    <collision>
      <origin rpy="0 0 0 " xyz="0 0 0"/>
      <geometry>
        <sphere radius="0.3"/>
      </geometry>
    </collision>
  </link>
  <gazebo reference="front_right_wheel_9">
    <material>Gazebo/Red</material>
    <turnGravityOff>false</turnGravityOff>
  </gazebo>
  <gazebo reference="front_right_wheel_9_joint">
    <cfm_damping>1</cfm_damping>
  </gazebo>
  <joint name="front_right_wheel_9_joint" type="continuous">
    <parent link="front_right_main_wheel"/>
    <child link="front_right_wheel_9"/>
    <origin rpy="0 0 0" xyz="-0.500000 0.866025 0.000000"/>
    <axis xyz="-0.612372 -0.353553 -0.707107"/>
    <dynamics damping="1.0"/>
  </joint>
  <link name="front_right_wheel_10">
    <inertial>
      <origin xyz="0 0 0"/>
      <mass value="1.0"/>
      <inertia ixx="1.0" ixy="0.0" ixz="0.0" iyy="1.0" iyz="0.0" izz="1.0"/>
    </inertial>
    <visual>
      <origin rpy="0 0 0" xyz="0 0 0"/>
      <geometry>
        <sphere radius="0.3"/>
      </geometry>
    </visual>
    <collision>
      <origin rpy="0 0 0 " xyz="0 0 0"/>
      <geometry>
        <sphere radius="0.3"/>
      </geometry>
    </collision>
  </link>
  <gazebo reference="front_right_wheel_10">
    <material>Gazebo/Red</material>
    <turnGravityOff>false</turnGravityOff>
  </gazebo>
  <gazebo reference="front_right_wheel_10_joint">
    <cfm_damping>1</cfm_damping>
  </gazebo>
  <joint name="front_right_wheel_10_joint" type="continuous">
    <parent link="front_right_main_wheel"/>
    <child link="front_right_wheel_10"/>
    <origin rpy="0 0 0" xyz="-0.707107 0.707107 0.000000"/>
    <axis xyz="-0.500000 -0.500000 -0.707107"/>
    <dynamics damping="1.0"/>
  </joint>
  <link name="front_right_wheel_11">
    <inertial>
      <origin xyz="0 0 0"/>
      <mass value="1.0"/>
      <inertia ixx="1.0" ixy="0.0" ixz="0.0" iyy="1.0" iyz="0.0" izz="1.0"/>
    </inertial>
    <visual>
      <origin rpy="0 0 0" xyz="0 0 0"/>
      <geometry>
        <sphere radius="0.3"/>
      </geometry>
    </visual>
    <collision>
      <origin rpy="0 0 0 " xyz="0 0 0"/>
      <geometry>
        <sphere radius="0.3"/>
      </geometry>
    </collision>
  </link>
  <gazebo reference="front_right_wheel_11">
    <material>Gazebo/Red</material>
    <turnGravityOff>false</turnGravityOff>
  </gazebo>
  <gazebo reference="front_right_wheel_11_joint">
    <cfm_damping>1</cfm_damping>
  </gazebo>
  <joint name="front_right_wheel_11_joint" type="continuous">
    <parent link="front_right_main_wheel"/>
    <child link="front_right_wheel_11"/>
    <origin rpy="0 0 0" xyz="-0.866025 0.500000 0.000000"/>
    <axis xyz="-0.353553 -0.612372 -0.707107"/>
    <dynamics damping="1.0"/>
  </joint>
  <link name="front_right_wheel_12">
    <inertial>
      <origin xyz="0 0 0"/>
      <mass value="1.0"/>
      <inertia ixx="1.0" ixy="0.0" ixz="0.0" iyy="1.0" iyz="0.0" izz="1.0"/>
    </inertial>
    <visual>
      <origin rpy="0 0 0" xyz="0 0 0"/>
      <geometry>
        <sphere radius="0.3"/>
      </geometry>
    </visual>
    <collision>
      <origin rpy="0 0 0 " xyz="0 0 0"/>
      <geometry>
        <sphere radius="0.3"/>
      </geometry>
    </collision>
  </link>
  <gazebo reference="front_right_wheel_12">
    <material>Gazebo/Red</material>
    <turnGravityOff>false</turnGravityOff>
  </gazebo>
  <gazebo reference="front_right_wheel_12_joint">
    <cfm_damping>1</cfm_damping>
  </gazebo>
  <joint name="front_right_wheel_12_joint" type="continuous">
    <parent link="front_right_main_wheel"/>
    <child link="front_right_wheel_12"/>
    <origin rpy="0 0 0" xyz="-0.965926 0.258819 0.000000"/>
    <axis xyz="-0.183013 -0.683013 -0.707107"/>
    <dynamics damping="1.0"/>
  </joint>
  <link name="front_right_wheel_13">
    <inertial>
      <origin xyz="0 0 0"/>
      <mass value="1.0"/>
      <inertia ixx="1.0" ixy="0.0" ixz="0.0" iyy="1.0" iyz="0.0" izz="1.0"/>
    </inertial>
    <visual>
      <origin rpy="0 0 0" xyz="0 0 0"/>
      <geometry>
        <sphere radius="0.3"/>
      </geometry>
    </visual>
    <collision>
      <origin rpy="0 0 0 " xyz="0 0 0"/>
      <geometry>
        <sphere radius="0.3"/>
      </geometry>
    </collision>
  </link>
  <gazebo reference="front_right_wheel_13">
    <material>Gazebo/Red</material>
    <turnGravityOff>false</turnGravityOff>
  </gazebo>
  <gazebo reference="front_right_wheel_13_joint">
    <cfm_damping>1</cfm_damping>
  </gazebo>
  <joint name="front_right_wheel_13_joint" type="continuous">
    <parent link="front_right_main_wheel"/>
    <child link="front_right_wheel_13"/>
    <origin rpy="0 0 0" xyz="-1.000000 0.000000 0.000000"/>
    <axis xyz="0.000000 -0.707107 -0.707107"/>
    <dynamics damping="1.0"/>
  </joint>
  <link name="front_right_wheel_14">
    <inertial>
      <origin xyz="0 0 0"/>
      <mass value="1.0"/>
      <inertia ixx="1.0" ixy="0.0" ixz="0.0" iyy="1.0" iyz="0.0" izz="1.0"/>
    </inertial>
    <visual>
      <origin rpy="0 0 0" xyz="0 0 0"/>
      <geometry>
        <sphere radius="0.3"/>
      </geometry>
    </visual>
    <collision>
      <origin rpy="0 0 0 " xyz="0 0 0"/>
      <geometry>
        <sphere radius="0.3"/>
      </geometry>
    </collision>
  </link>
  <gazebo reference="front_right_wheel_14">
    <material>Gazebo/Red</material>
    <turnGravityOff>false</turnGravityOff>
  </gazebo>
  <gazebo reference="front_right_wheel_14_joint">
    <cfm_damping>1</cfm_damping>
  </gazebo>
  <joint name="front_right_wheel_14_joint" type="continuous">
    <parent link="front_right_main_wheel"/>
    <child link="front_right_wheel_14"/>
    <origin rpy="0 0 0" xyz="-0.965926 -0.258819 0.000000"/>
    <axis xyz="0.183013 -0.683013 -0.707107"/>
    <dynamics damping="1.0"/>
  </joint>
  <link name="front_right_wheel_15">
    <inertial>
      <origin xyz="0 0 0"/>
      <mass value="1.0"/>
      <inertia ixx="1.0" ixy="0.0" ixz="0.0" iyy="1.0" iyz="0.0" izz="1.0"/>
    </inertial>
    <visual>
      <origin rpy="0 0 0" xyz="0 0 0"/>
      <geometry>
        <sphere radius="0.3"/>
      </geometry>
    </visual>
    <collision>
      <origin rpy="0 0 0 " xyz="0 0 0"/>
      <geometry>
        <sphere radius="0.3"/>
      </geometry>
    </collision>
  </link>
  <gazebo reference="front_right_wheel_15">
    <material>Gazebo/Red</material>
    <turnGravityOff>false</turnGravityOff>
  </gazebo>
  <gazebo reference="front_right_wheel_15_joint">
    <cfm_damping>1</cfm_damping>
  </gazebo>
  <joint name="front_right_wheel_15_joint" type="continuous">
    <parent link="front_right_main_wheel"/>
    <child link="front_right_wheel_15"/>
    <origin rpy="0 0 0" xyz="-0.866025 -0.500000 0.000000"/>
    <axis xyz="0.353553 -0.612372 -0.707107"/>
    <dynamics damping="1.0"/>
  </joint>
  <link name="front_right_wheel_16">
    <inertial>
      <origin xyz="0 0 0"/>
      <mass value="1.0"/>
      <inertia ixx="1.0" ixy="0.0" ixz="0.0" iyy="1.0" iyz="0.0" izz="1.0"/>
    </inertial>
    <visual>
      <origin rpy="0 0 0" xyz="0 0 0"/>
      <geometry>
        <sphere radius="0.3"/>
      </geometry>
    </visual>
    <collision>
      <origin rpy="0 0 0 " xyz="0 0 0"/>
      <geometry>
        <sphere radius="0.3"/>
      </geometry>
    </collision>
  </link>
  <gazebo reference="front_right_wheel_16">
    <material>Gazebo/Red</material>
    <turnGravityOff>false</turnGravityOff>
  </gazebo>
  <gazebo reference="front_right_wheel_16_joint">
    <cfm_damping>1</cfm_damping>
  </gazebo>
  <joint name="front_right_wheel_16_joint" type="continuous">
    <parent link="front_right_main_wheel"/>
    <child link="front_right_wheel_16"/>
    <origin rpy="0 0 0" xyz="-0.707107 -0.707107 0.000000"/>
    <axis xyz="0.500000 -0.500000 -0.707107"/>
    <dynamics damping="1.0"/>
  </joint>
  <link name="front_right_wheel_17">
    <inertial>
      <origin xyz="0 0 0"/>
      <mass value="1.0"/>
      <inertia ixx="1.0" ixy="0.0" ixz="0.0" iyy="1.0" iyz="0.0" izz="1.0"/>
    </inertial>
    <visual>
      <origin rpy="0 0 0" xyz="0 0 0"/>
      <geometry>
        <sphere radius="0.3"/>
      </geometry>
    </visual>
    <collision>
      <origin rpy="0 0 0 " xyz="0 0 0"/>
      <geometry>
        <sphere radius="0.3"/>
      </geometry>
    </collision>
  </link>
  <gazebo reference="front_right_wheel_17">
    <material>Gazebo/Red</material>
    <turnGravityOff>false</turnGravityOff>
  </gazebo>
  <gazebo reference="front_right_wheel_17_joint">
    <cfm_damping>1</cfm_damping>
  </gazebo>
  <joint name="front_right_wheel_17_joint" type="continuous">
    <parent link="front_right_main_wheel"/>
    <child link="front_right_wheel_17"/>
    <origin rpy="0 0 0" xyz="-0.500000 -0.866025 0.000000"/>
    <axis xyz="0.612372 -0.353553 -0.707107"/>
    <dynamics damping="1.0"/>
  </joint>
  <link name="front_right_wheel_18">
    <inertial>
      <origin xyz="0 0 0"/>
      <mass value="1.0"/>
      <inertia ixx="1.0" ixy="0.0" ixz="0.0" iyy="1.0" iyz="0.0" izz="1.0"/>
    </inertial>
    <visual>
      <origin rpy="0 0 0" xyz="0 0 0"/>
      <geometry>
        <sphere radius="0.3"/>
      </geometry>
    </visual>
    <collision>
      <origin rpy="0 0 0 " xyz="0 0 0"/>
      <geometry>
        <sphere radius="0.3"/>
      </geometry>
    </collision>
  </link>
  <gazebo reference="front_right_wheel_18">
    <material>Gazebo/Red</material>
    <turnGravityOff>false</turnGravityOff>
  </gazebo>
  <gazebo reference="front_right_wheel_18_joint">
    <cfm_damping>1</cfm_damping>
  </gazebo>
  <joint name="front_right_wheel_18_joint" type="continuous">
    <parent link="front_right_main_wheel"/>
    <child link="front_right_wheel_18"/>
    <origin rpy="0 0 0" xyz="-0.258819 -0.965926 0.000000"/>
    <axis xyz="0.683013 -0.183013 -0.707107"/>
    <dynamics damping="1.0"/>
  </joint>
  <link name="front_right_wheel_19">
    <inertial>
      <origin xyz="0 0 0"/>
      <mass value="1.0"/>
      <inertia ixx="1.0" ixy="0.0" ixz="0.0" iyy="1.0" iyz="0.0" izz="1.0"/>
    </inertial>
    <visual>
      <origin rpy="0 0 0" xyz="0 0 0"/>
      <geometry>
        <sphere radius="0.3"/>
      </geometry>
    </visual>
    <collision>
      <origin rpy="0 0 0 " xyz="0 0 0"/>
      <geometry>
        <sphere radius="0.3"/>
      </geometry>
    </collision>
  </link>
  <gazebo reference="front_right_wheel_19">
    <material>Gazebo/Red</material>
    <turnGravityOff>false</turnGravityOff>
  </gazebo>
  <gazebo reference="front_right_wheel_19_joint">
    <cfm_damping>1</cfm_damping>
  </gazebo>
  <joint name="front_right_wheel_19_joint" type="continuous">
    <parent link="front_right_main_wheel"/>
    <child link="front_right_wheel_19"/>
    <origin rpy="0 0 0" xyz="0.000000 -1.000000 0.000000"/>
    <axis xyz="0.707107 0.000000 -0.707107"/>
    <dynamics damping="1.0"/>
  </joint>
  <link name="front_right_wheel_20">
    <inertial>
      <origin xyz="0 0 0"/>
      <mass value="1.0"/>
      <inertia ixx="1.0" ixy="0.0" ixz="0.0" iyy="1.0" iyz="0.0" izz="1.0"/>
    </inertial>
    <visual>
      <origin rpy="0 0 0" xyz="0 0 0"/>
      <geometry>
        <sphere radius="0.3"/>
      </geometry>
    </visual>
    <collision>
      <origin rpy="0 0 0 " xyz="0 0 0"/>
      <geometry>
        <sphere radius="0.3"/>
      </geometry>
    </collision>
  </link>
  <gazebo reference="front_right_wheel_20">
    <material>Gazebo/Red</material>
    <turnGravityOff>false</turnGravityOff>
  </gazebo>
  <gazebo reference="front_right_wheel_20_joint">
    <cfm_damping>1</cfm_damping>
  </gazebo>
  <joint name="front_right_wheel_20_joint" type="continuous">
    <parent link="front_right_main_wheel"/>
    <child link="front_right_wheel_20"/>
    <origin rpy="0 0 0" xyz="0.258819 -0.965926 0.000000"/>
    <axis xyz="0.683013 0.183013 -0.707107"/>
    <dynamics damping="1.0"/>
  </joint>
  <link name="front_right_wheel_21">
    <inertial>
      <origin xyz="0 0 0"/>
      <mass value="1.0"/>
      <inertia ixx="1.0" ixy="0.0" ixz="0.0" iyy="1.0" iyz="0.0" izz="1.0"/>
    </inertial>
    <visual>
      <origin rpy="0 0 0" xyz="0 0 0"/>
      <geometry>
        <sphere radius="0.3"/>
      </geometry>
    </visual>
    <collision>
      <origin rpy="0 0 0 " xyz="0 0 0"/>
      <geometry>
        <sphere radius="0.3"/>
      </geometry>
    </collision>
  </link>
  <gazebo reference="front_right_wheel_21">
    <material>Gazebo/Red</material>
    <turnGravityOff>false</turnGravityOff>
  </gazebo>
  <gazebo reference="front_right_wheel_21_joint">
    <cfm_damping>1</cfm_damping>
  </gazebo>
  <joint name="front_right_wheel_21_joint" type="continuous">
    <parent link="front_right_main_wheel"/>
    <child link="front_right_wheel_21"/>
    <origin rpy="0 0 0" xyz="0.500000 -0.866025 0.000000"/>
    <axis xyz="0.612372 0.353553 -0.707107"/>
    <dynamics damping="1.0"/>
  </joint>
  <link name="front_right_wheel_22">
    <inertial>
      <origin xyz="0 0 0"/>
      <mass value="1.0"/>
      <inertia ixx="1.0" ixy="0.0" ixz="0.0" iyy="1.0" iyz="0.0" izz="1.0"/>
    </inertial>
    <visual>
      <origin rpy="0 0 0" xyz="0 0 0"/>
      <geometry>
        <sphere radius="0.3"/>
      </geometry>
    </visual>
    <collision>
      <origin rpy="0 0 0 " xyz="0 0 0"/>
      <geometry>
        <sphere radius="0.3"/>
      </geometry>
    </collision>
  </link>
  <gazebo reference="front_right_wheel_22">
    <material>Gazebo/Red</material>
    <turnGravityOff>false</turnGravityOff>
  </gazebo>
  <gazebo reference="front_right_wheel_22_joint">
    <cfm_damping>1</cfm_damping>
  </gazebo>
  <joint name="front_right_wheel_22_joint" type="continuous">
    <parent link="front_right_main_wheel"/>
    <child link="front_right_wheel_22"/>
    <origin rpy="0 0 0" xyz="0.707107 -0.707107 0.000000"/>
    <axis xyz="0.500000 0.500000 -0.707107"/>
    <dynamics damping="1.0"/>
  </joint>
  <link name="front_right_wheel_23">
    <inertial>
      <origin xyz="0 0 0"/>
      <mass value="1.0"/>
      <inertia ixx="1.0" ixy="0.0" ixz="0.0" iyy="1.0" iyz="0.0" izz="1.0"/>
    </inertial>
    <visual>
      <origin rpy="0 0 0" xyz="0 0 0"/>
      <geometry>
        <sphere radius="0.3"/>
      </geometry>
    </visual>
    <collision>
      <origin rpy="0 0 0 " xyz="0 0 0"/>
      <geometry>
        <sphere radius="0.3"/>
      </geometry>
    </collision>
  </link>
  <gazebo reference="front_right_wheel_23">
    <material>Gazebo/Red</material>
    <turnGravityOff>false</turnGravityOff>
  </gazebo>
  <gazebo reference="front_right_wheel_23_joint">
    <cfm_damping>1</cfm_damping>
  </gazebo>
  <joint name="front_right_wheel_23_joint" type="continuous">
    <parent link="front_right_main_wheel"/>
    <child link="front_right_wheel_23"/>
    <origin rpy="0 0 0" xyz="0.866025 -0.500000 0.000000"/>
    <axis xyz="0.353553 0.612372 -0.707107"/>
    <dynamics damping="1.0"/>
  </joint>
  <link name="front_right_wheel_24">
    <inertial>
      <origin xyz="0 0 0"/>
      <mass value="1.0"/>
      <inertia ixx="1.0" ixy="0.0" ixz="0.0" iyy="1.0" iyz="0.0" izz="1.0"/>
    </inertial>
    <visual>
      <origin rpy="0 0 0" xyz="0 0 0"/>
      <geometry>
        <sphere radius="0.3"/>
      </geometry>
    </visual>
    <collision>
      <origin rpy="0 0 0 " xyz="0 0 0"/>
      <geometry>
        <sphere radius="0.3"/>
      </geometry>
    </collision>
  </link>
  <gazebo reference="front_right_wheel_24">
    <material>Gazebo/Red</material>
    <turnGravityOff>false</turnGravityOff>
  </gazebo>
  <gazebo reference="front_right_wheel_24_joint">
    <cfm_damping>1</cfm_damping>
  </gazebo>
  <joint name="front_right_wheel_24_joint" type="continuous">
    <parent link="front_right_main_wheel"/>
    <child link="front_right_wheel_24"/>
    <origin rpy="0 0 0" xyz="0.965926 -0.258819 0.000000"/>
    <axis xyz="0.183013 0.683013 -0.707107"/>
    <dynamics damping="1.0"/>
  </joint>
  <link name="rear_left_main_wheel">
    <inertial>
      <origin xyz="0 0 0"/>
      <mass value="1.0"/>
      <inertia ixx="1.0" ixy="0.0" ixz="0.0" iyy="1.0" iyz="0.0" izz="1.0"/>
    </inertial>
    <visual>
      <origin rpy="0 0 0" xyz="0 0 0"/>
      <geometry>
        <cylinder length="0.1" radius="1"/>
      </geometry>
    </visual>
    <collision>
      <origin rpy="0 0 0 " xyz="0 0 0"/>
      <geometry>
        <cylinder length="0.1" radius="1"/>
      </geometry>
    </collision>
  </link>
  <gazebo reference="rear_left_main_wheel_joint">
    <cfm_damping>1</cfm_damping>
  </gazebo>
  <joint name="rear_left_main_wheel_joint" type="continuous">
    <parent link="base"/>
    <child link="rear_left_main_wheel"/>
    <axis xyz="0 0 1"/>
    <origin rpy="1.57079632679 0 0" xyz="-2 2 0"/>
    <dynamics damping="1.0"/>
  </joint>
  <gazebo reference="main_wheel">
    <material>Gazebo/Blue</material>
    <turnGravityOff>false</turnGravityOff>
  </gazebo>
  <link name="rear_left_wheel_1">
    <inertial>
      <origin xyz="0 0 0"/>
      <mass value="1.0"/>
      <inertia ixx="1.0" ixy="0.0" ixz="0.0" iyy="1.0" iyz="0.0" izz="1.0"/>
    </inertial>
    <visual>
      <origin rpy="0 0 0" xyz="0 0 0"/>
      <geometry>
        <sphere radius="0.3"/>
      </geometry>
    </visual>
    <collision>
      <origin rpy="0 0 0 " xyz="0 0 0"/>
      <geometry>
        <sphere radius="0.3"/>
      </geometry>
    </collision>
  </link>
  <gazebo reference="rear_left_wheel_1">
    <material>Gazebo/Red</material>
    <turnGravityOff>false</turnGravityOff>
  </gazebo>
  <gazebo reference="rear_left_wheel_1_joint">
    <cfm_damping>1</cfm_damping>
  </gazebo>
  <joint name="rear_left_wheel_1_joint" type="continuous">
    <parent link="rear_left_main_wheel"/>
    <child link="rear_left_wheel_1"/>
    <origin rpy="0 0 0" xyz="1.000000 0.000000 0.000000"/>
    <axis xyz="0.000000 0.707107 -0.707107"/>
    <dynamics damping="1.0"/>
  </joint>
  <link name="rear_left_wheel_2">
    <inertial>
      <origin xyz="0 0 0"/>
      <mass value="1.0"/>
      <inertia ixx="1.0" ixy="0.0" ixz="0.0" iyy="1.0" iyz="0.0" izz="1.0"/>
    </inertial>
    <visual>
      <origin rpy="0 0 0" xyz="0 0 0"/>
      <geometry>
        <sphere radius="0.3"/>
      </geometry>
    </visual>
    <collision>
      <origin rpy="0 0 0 " xyz="0 0 0"/>
      <geometry>
        <sphere radius="0.3"/>
      </geometry>
    </collision>
  </link>
  <gazebo reference="rear_left_wheel_2">
    <material>Gazebo/Red</material>
    <turnGravityOff>false</turnGravityOff>
  </gazebo>
  <gazebo reference="rear_left_wheel_2_joint">
    <cfm_damping>1</cfm_damping>
  </gazebo>
  <joint name="rear_left_wheel_2_joint" type="continuous">
    <parent link="rear_left_main_wheel"/>
    <child link="rear_left_wheel_2"/>
    <origin rpy="0 0 0" xyz="0.965926 0.258819 0.000000"/>
    <axis xyz="-0.183013 0.683013 -0.707107"/>
    <dynamics damping="1.0"/>
  </joint>
  <link name="rear_left_wheel_3">
    <inertial>
      <origin xyz="0 0 0"/>
      <mass value="1.0"/>
      <inertia ixx="1.0" ixy="0.0" ixz="0.0" iyy="1.0" iyz="0.0" izz="1.0"/>
    </inertial>
    <visual>
      <origin rpy="0 0 0" xyz="0 0 0"/>
      <geometry>
        <sphere radius="0.3"/>
      </geometry>
    </visual>
    <collision>
      <origin rpy="0 0 0 " xyz="0 0 0"/>
      <geometry>
        <sphere radius="0.3"/>
      </geometry>
    </collision>
  </link>
  <gazebo reference="rear_left_wheel_3">
    <material>Gazebo/Red</material>
    <turnGravityOff>false</turnGravityOff>
  </gazebo>
  <gazebo reference="rear_left_wheel_3_joint">
    <cfm_damping>1</cfm_damping>
  </gazebo>
  <joint name="rear_left_wheel_3_joint" type="continuous">
    <parent link="rear_left_main_wheel"/>
    <child link="rear_left_wheel_3"/>
    <origin rpy="0 0 0" xyz="0.866025 0.500000 0.000000"/>
    <axis xyz="-0.353553 0.612372 -0.707107"/>
    <dynamics damping="1.0"/>
  </joint>
  <link name="rear_left_wheel_4">
    <inertial>
      <origin xyz="0 0 0"/>
      <mass value="1.0"/>
      <inertia ixx="1.0" ixy="0.0" ixz="0.0" iyy="1.0" iyz="0.0" izz="1.0"/>
    </inertial>
    <visual>
      <origin rpy="0 0 0" xyz="0 0 0"/>
      <geometry>
        <sphere radius="0.3"/>
      </geometry>
    </visual>
    <collision>
      <origin rpy="0 0 0 " xyz="0 0 0"/>
      <geometry>
        <sphere radius="0.3"/>
      </geometry>
    </collision>
  </link>
  <gazebo reference="rear_left_wheel_4">
    <material>Gazebo/Red</material>
    <turnGravityOff>false</turnGravityOff>
  </gazebo>
  <gazebo reference="rear_left_wheel_4_joint">
    <cfm_damping>1</cfm_damping>
  </gazebo>
  <joint name="rear_left_wheel_4_joint" type="continuous">
    <parent link="rear_left_main_wheel"/>
    <child link="rear_left_wheel_4"/>
    <origin rpy="0 0 0" xyz="0.707107 0.707107 0.000000"/>
    <axis xyz="-0.500000 0.500000 -0.707107"/>
    <dynamics damping="1.0"/>
  </joint>
  <link name="rear_left_wheel_5">
    <inertial>
      <origin xyz="0 0 0"/>
      <mass value="1.0"/>
      <inertia ixx="1.0" ixy="0.0" ixz="0.0" iyy="1.0" iyz="0.0" izz="1.0"/>
    </inertial>
    <visual>
      <origin rpy="0 0 0" xyz="0 0 0"/>
      <geometry>
        <sphere radius="0.3"/>
      </geometry>
    </visual>
    <collision>
      <origin rpy="0 0 0 " xyz="0 0 0"/>
      <geometry>
        <sphere radius="0.3"/>
      </geometry>
    </collision>
  </link>
  <gazebo reference="rear_left_wheel_5">
    <material>Gazebo/Red</material>
    <turnGravityOff>false</turnGravityOff>
  </gazebo>
  <gazebo reference="rear_left_wheel_5_joint">
    <cfm_damping>1</cfm_damping>
  </gazebo>
  <joint name="rear_left_wheel_5_joint" type="continuous">
    <parent link="rear_left_main_wheel"/>
    <child link="rear_left_wheel_5"/>
    <origin rpy="0 0 0" xyz="0.500000 0.866025 0.000000"/>
    <axis xyz="-0.612372 0.353553 -0.707107"/>
    <dynamics damping="1.0"/>
  </joint>
  <link name="rear_left_wheel_6">
    <inertial>
      <origin xyz="0 0 0"/>
      <mass value="1.0"/>
      <inertia ixx="1.0" ixy="0.0" ixz="0.0" iyy="1.0" iyz="0.0" izz="1.0"/>
    </inertial>
    <visual>
      <origin rpy="0 0 0" xyz="0 0 0"/>
      <geometry>
        <sphere radius="0.3"/>
      </geometry>
    </visual>
    <collision>
      <origin rpy="0 0 0 " xyz="0 0 0"/>
      <geometry>
        <sphere radius="0.3"/>
      </geometry>
    </collision>
  </link>
  <gazebo reference="rear_left_wheel_6">
    <material>Gazebo/Red</material>
    <turnGravityOff>false</turnGravityOff>
  </gazebo>
  <gazebo reference="rear_left_wheel_6_joint">
    <cfm_damping>1</cfm_damping>
  </gazebo>
  <joint name="rear_left_wheel_6_joint" type="continuous">
    <parent link="rear_left_main_wheel"/>
    <child link="rear_left_wheel_6"/>
    <origin rpy="0 0 0" xyz="0.258819 0.965926 0.000000"/>
    <axis xyz="-0.683013 0.183013 -0.707107"/>
    <dynamics damping="1.0"/>
  </joint>
  <link name="rear_left_wheel_7">
    <inertial>
      <origin xyz="0 0 0"/>
      <mass value="1.0"/>
      <inertia ixx="1.0" ixy="0.0" ixz="0.0" iyy="1.0" iyz="0.0" izz="1.0"/>
    </inertial>
    <visual>
      <origin rpy="0 0 0" xyz="0 0 0"/>
      <geometry>
        <sphere radius="0.3"/>
      </geometry>
    </visual>
    <collision>
      <origin rpy="0 0 0 " xyz="0 0 0"/>
      <geometry>
        <sphere radius="0.3"/>
      </geometry>
    </collision>
  </link>
  <gazebo reference="rear_left_wheel_7">
    <material>Gazebo/Red</material>
    <turnGravityOff>false</turnGravityOff>
  </gazebo>
  <gazebo reference="rear_left_wheel_7_joint">
    <cfm_damping>1</cfm_damping>
  </gazebo>
  <joint name="rear_left_wheel_7_joint" type="continuous">
    <parent link="rear_left_main_wheel"/>
    <child link="rear_left_wheel_7"/>
    <origin rpy="0 0 0" xyz="0.000000 1.000000 0.000000"/>
    <axis xyz="-0.707107 0.000000 -0.707107"/>
    <dynamics damping="1.0"/>
  </joint>
  <link name="rear_left_wheel_8">
    <inertial>
      <origin xyz="0 0 0"/>
      <mass value="1.0"/>
      <inertia ixx="1.0" ixy="0.0" ixz="0.0" iyy="1.0" iyz="0.0" izz="1.0"/>
    </inertial>
    <visual>
      <origin rpy="0 0 0" xyz="0 0 0"/>
      <geometry>
        <sphere radius="0.3"/>
      </geometry>
    </visual>
    <collision>
      <origin rpy="0 0 0 " xyz="0 0 0"/>
      <geometry>
        <sphere radius="0.3"/>
      </geometry>
    </collision>
  </link>
  <gazebo reference="rear_left_wheel_8">
    <material>Gazebo/Red</material>
    <turnGravityOff>false</turnGravityOff>
  </gazebo>
  <gazebo reference="rear_left_wheel_8_joint">
    <cfm_damping>1</cfm_damping>
  </gazebo>
  <joint name="rear_left_wheel_8_joint" type="continuous">
    <parent link="rear_left_main_wheel"/>
    <child link="rear_left_wheel_8"/>
    <origin rpy="0 0 0" xyz="-0.258819 0.965926 0.000000"/>
    <axis xyz="-0.683013 -0.183013 -0.707107"/>
    <dynamics damping="1.0"/>
  </joint>
  <link name="rear_left_wheel_9">
    <inertial>
      <origin xyz="0 0 0"/>
      <mass value="1.0"/>
      <inertia ixx="1.0" ixy="0.0" ixz="0.0" iyy="1.0" iyz="0.0" izz="1.0"/>
    </inertial>
    <visual>
      <origin rpy="0 0 0" xyz="0 0 0"/>
      <geometry>
        <sphere radius="0.3"/>
      </geometry>
    </visual>
    <collision>
      <origin rpy="0 0 0 " xyz="0 0 0"/>
      <geometry>
        <sphere radius="0.3"/>
      </geometry>
    </collision>
  </link>
  <gazebo reference="rear_left_wheel_9">
    <material>Gazebo/Red</material>
    <turnGravityOff>false</turnGravityOff>
  </gazebo>
  <gazebo reference="rear_left_wheel_9_joint">
    <cfm_damping>1</cfm_damping>
  </gazebo>
  <joint name="rear_left_wheel_9_joint" type="continuous">
    <parent link="rear_left_main_wheel"/>
    <child link="rear_left_wheel_9"/>
    <origin rpy="0 0 0" xyz="-0.500000 0.866025 0.000000"/>
    <axis xyz="-0.612372 -0.353553 -0.707107"/>
    <dynamics damping="1.0"/>
  </joint>
  <link name="rear_left_wheel_10">
    <inertial>
      <origin xyz="0 0 0"/>
      <mass value="1.0"/>
      <inertia ixx="1.0" ixy="0.0" ixz="0.0" iyy="1.0" iyz="0.0" izz="1.0"/>
    </inertial>
    <visual>
      <origin rpy="0 0 0" xyz="0 0 0"/>
      <geometry>
        <sphere radius="0.3"/>
      </geometry>
    </visual>
    <collision>
      <origin rpy="0 0 0 " xyz="0 0 0"/>
      <geometry>
        <sphere radius="0.3"/>
      </geometry>
    </collision>
  </link>
  <gazebo reference="rear_left_wheel_10">
    <material>Gazebo/Red</material>
    <turnGravityOff>false</turnGravityOff>
  </gazebo>
  <gazebo reference="rear_left_wheel_10_joint">
    <cfm_damping>1</cfm_damping>
  </gazebo>
  <joint name="rear_left_wheel_10_joint" type="continuous">
    <parent link="rear_left_main_wheel"/>
    <child link="rear_left_wheel_10"/>
    <origin rpy="0 0 0" xyz="-0.707107 0.707107 0.000000"/>
    <axis xyz="-0.500000 -0.500000 -0.707107"/>
    <dynamics damping="1.0"/>
  </joint>
  <link name="rear_left_wheel_11">
    <inertial>
      <origin xyz="0 0 0"/>
      <mass value="1.0"/>
      <inertia ixx="1.0" ixy="0.0" ixz="0.0" iyy="1.0" iyz="0.0" izz="1.0"/>
    </inertial>
    <visual>
      <origin rpy="0 0 0" xyz="0 0 0"/>
      <geometry>
        <sphere radius="0.3"/>
      </geometry>
    </visual>
    <collision>
      <origin rpy="0 0 0 " xyz="0 0 0"/>
      <geometry>
        <sphere radius="0.3"/>
      </geometry>
    </collision>
  </link>
  <gazebo reference="rear_left_wheel_11">
    <material>Gazebo/Red</material>
    <turnGravityOff>false</turnGravityOff>
  </gazebo>
  <gazebo reference="rear_left_wheel_11_joint">
    <cfm_damping>1</cfm_damping>
  </gazebo>
  <joint name="rear_left_wheel_11_joint" type="continuous">
    <parent link="rear_left_main_wheel"/>
    <child link="rear_left_wheel_11"/>
    <origin rpy="0 0 0" xyz="-0.866025 0.500000 0.000000"/>
    <axis xyz="-0.353553 -0.612372 -0.707107"/>
    <dynamics damping="1.0"/>
  </joint>
  <link name="rear_left_wheel_12">
    <inertial>
      <origin xyz="0 0 0"/>
      <mass value="1.0"/>
      <inertia ixx="1.0" ixy="0.0" ixz="0.0" iyy="1.0" iyz="0.0" izz="1.0"/>
    </inertial>
    <visual>
      <origin rpy="0 0 0" xyz="0 0 0"/>
      <geometry>
        <sphere radius="0.3"/>
      </geometry>
    </visual>
    <collision>
      <origin rpy="0 0 0 " xyz="0 0 0"/>
      <geometry>
        <sphere radius="0.3"/>
      </geometry>
    </collision>
  </link>
  <gazebo reference="rear_left_wheel_12">
    <material>Gazebo/Red</material>
    <turnGravityOff>false</turnGravityOff>
  </gazebo>
  <gazebo reference="rear_left_wheel_12_joint">
    <cfm_damping>1</cfm_damping>
  </gazebo>
  <joint name="rear_left_wheel_12_joint" type="continuous">
    <parent link="rear_left_main_wheel"/>
    <child link="rear_left_wheel_12"/>
    <origin rpy="0 0 0" xyz="-0.965926 0.258819 0.000000"/>
    <axis xyz="-0.183013 -0.683013 -0.707107"/>
    <dynamics damping="1.0"/>
  </joint>
  <link name="rear_left_wheel_13">
    <inertial>
      <origin xyz="0 0 0"/>
      <mass value="1.0"/>
      <inertia ixx="1.0" ixy="0.0" ixz="0.0" iyy="1.0" iyz="0.0" izz="1.0"/>
    </inertial>
    <visual>
      <origin rpy="0 0 0" xyz="0 0 0"/>
      <geometry>
        <sphere radius="0.3"/>
      </geometry>
    </visual>
    <collision>
      <origin rpy="0 0 0 " xyz="0 0 0"/>
      <geometry>
        <sphere radius="0.3"/>
      </geometry>
    </collision>
  </link>
  <gazebo reference="rear_left_wheel_13">
    <material>Gazebo/Red</material>
    <turnGravityOff>false</turnGravityOff>
  </gazebo>
  <gazebo reference="rear_left_wheel_13_joint">
    <cfm_damping>1</cfm_damping>
  </gazebo>
  <joint name="rear_left_wheel_13_joint" type="continuous">
    <parent link="rear_left_main_wheel"/>
    <child link="rear_left_wheel_13"/>
    <origin rpy="0 0 0" xyz="-1.000000 0.000000 0.000000"/>
    <axis xyz="0.000000 -0.707107 -0.707107"/>
    <dynamics damping="1.0"/>
  </joint>
  <link name="rear_left_wheel_14">
    <inertial>
      <origin xyz="0 0 0"/>
      <mass value="1.0"/>
      <inertia ixx="1.0" ixy="0.0" ixz="0.0" iyy="1.0" iyz="0.0" izz="1.0"/>
    </inertial>
    <visual>
      <origin rpy="0 0 0" xyz="0 0 0"/>
      <geometry>
        <sphere radius="0.3"/>
      </geometry>
    </visual>
    <collision>
      <origin rpy="0 0 0 " xyz="0 0 0"/>
      <geometry>
        <sphere radius="0.3"/>
      </geometry>
    </collision>
  </link>
  <gazebo reference="rear_left_wheel_14">
    <material>Gazebo/Red</material>
    <turnGravityOff>false</turnGravityOff>
  </gazebo>
  <gazebo reference="rear_left_wheel_14_joint">
    <cfm_damping>1</cfm_damping>
  </gazebo>
  <joint name="rear_left_wheel_14_joint" type="continuous">
    <parent link="rear_left_main_wheel"/>
    <child link="rear_left_wheel_14"/>
    <origin rpy="0 0 0" xyz="-0.965926 -0.258819 0.000000"/>
    <axis xyz="0.183013 -0.683013 -0.707107"/>
    <dynamics damping="1.0"/>
  </joint>
  <link name="rear_left_wheel_15">
    <inertial>
      <origin xyz="0 0 0"/>
      <mass value="1.0"/>
      <inertia ixx="1.0" ixy="0.0" ixz="0.0" iyy="1.0" iyz="0.0" izz="1.0"/>
    </inertial>
    <visual>
      <origin rpy="0 0 0" xyz="0 0 0"/>
      <geometry>
        <sphere radius="0.3"/>
      </geometry>
    </visual>
    <collision>
      <origin rpy="0 0 0 " xyz="0 0 0"/>
      <geometry>
        <sphere radius="0.3"/>
      </geometry>
    </collision>
  </link>
  <gazebo reference="rear_left_wheel_15">
    <material>Gazebo/Red</material>
    <turnGravityOff>false</turnGravityOff>
  </gazebo>
  <gazebo reference="rear_left_wheel_15_joint">
    <cfm_damping>1</cfm_damping>
  </gazebo>
  <joint name="rear_left_wheel_15_joint" type="continuous">
    <parent link="rear_left_main_wheel"/>
    <child link="rear_left_wheel_15"/>
    <origin rpy="0 0 0" xyz="-0.866025 -0.500000 0.000000"/>
    <axis xyz="0.353553 -0.612372 -0.707107"/>
    <dynamics damping="1.0"/>
  </joint>
  <link name="rear_left_wheel_16">
    <inertial>
      <origin xyz="0 0 0"/>
      <mass value="1.0"/>
      <inertia ixx="1.0" ixy="0.0" ixz="0.0" iyy="1.0" iyz="0.0" izz="1.0"/>
    </inertial>
    <visual>
      <origin rpy="0 0 0" xyz="0 0 0"/>
      <geometry>
        <sphere radius="0.3"/>
      </geometry>
    </visual>
    <collision>
      <origin rpy="0 0 0 " xyz="0 0 0"/>
      <geometry>
        <sphere radius="0.3"/>
      </geometry>
    </collision>
  </link>
  <gazebo reference="rear_left_wheel_16">
    <material>Gazebo/Red</material>
    <turnGravityOff>false</turnGravityOff>
  </gazebo>
  <gazebo reference="rear_left_wheel_16_joint">
    <cfm_damping>1</cfm_damping>
  </gazebo>
  <joint name="rear_left_wheel_16_joint" type="continuous">
    <parent link="rear_left_main_wheel"/>
    <child link="rear_left_wheel_16"/>
    <origin rpy="0 0 0" xyz="-0.707107 -0.707107 0.000000"/>
    <axis xyz="0.500000 -0.500000 -0.707107"/>
    <dynamics damping="1.0"/>
  </joint>
  <link name="rear_left_wheel_17">
    <inertial>
      <origin xyz="0 0 0"/>
      <mass value="1.0"/>
      <inertia ixx="1.0" ixy="0.0" ixz="0.0" iyy="1.0" iyz="0.0" izz="1.0"/>
    </inertial>
    <visual>
      <origin rpy="0 0 0" xyz="0 0 0"/>
      <geometry>
        <sphere radius="0.3"/>
      </geometry>
    </visual>
    <collision>
      <origin rpy="0 0 0 " xyz="0 0 0"/>
      <geometry>
        <sphere radius="0.3"/>
      </geometry>
    </collision>
  </link>
  <gazebo reference="rear_left_wheel_17">
    <material>Gazebo/Red</material>
    <turnGravityOff>false</turnGravityOff>
  </gazebo>
  <gazebo reference="rear_left_wheel_17_joint">
    <cfm_damping>1</cfm_damping>
  </gazebo>
  <joint name="rear_left_wheel_17_joint" type="continuous">
    <parent link="rear_left_main_wheel"/>
    <child link="rear_left_wheel_17"/>
    <origin rpy="0 0 0" xyz="-0.500000 -0.866025 0.000000"/>
    <axis xyz="0.612372 -0.353553 -0.707107"/>
    <dynamics damping="1.0"/>
  </joint>
  <link name="rear_left_wheel_18">
    <inertial>
      <origin xyz="0 0 0"/>
      <mass value="1.0"/>
      <inertia ixx="1.0" ixy="0.0" ixz="0.0" iyy="1.0" iyz="0.0" izz="1.0"/>
    </inertial>
    <visual>
      <origin rpy="0 0 0" xyz="0 0 0"/>
      <geometry>
        <sphere radius="0.3"/>
      </geometry>
    </visual>
    <collision>
      <origin rpy="0 0 0 " xyz="0 0 0"/>
      <geometry>
        <sphere radius="0.3"/>
      </geometry>
    </collision>
  </link>
  <gazebo reference="rear_left_wheel_18">
    <material>Gazebo/Red</material>
    <turnGravityOff>false</turnGravityOff>
  </gazebo>
  <gazebo reference="rear_left_wheel_18_joint">
    <cfm_damping>1</cfm_damping>
  </gazebo>
  <joint name="rear_left_wheel_18_joint" type="continuous">
    <parent link="rear_left_main_wheel"/>
    <child link="rear_left_wheel_18"/>
    <origin rpy="0 0 0" xyz="-0.258819 -0.965926 0.000000"/>
    <axis xyz="0.683013 -0.183013 -0.707107"/>
    <dynamics damping="1.0"/>
  </joint>
  <link name="rear_left_wheel_19">
    <inertial>
      <origin xyz="0 0 0"/>
      <mass value="1.0"/>
      <inertia ixx="1.0" ixy="0.0" ixz="0.0" iyy="1.0" iyz="0.0" izz="1.0"/>
    </inertial>
    <visual>
      <origin rpy="0 0 0" xyz="0 0 0"/>
      <geometry>
        <sphere radius="0.3"/>
      </geometry>
    </visual>
    <collision>
      <origin rpy="0 0 0 " xyz="0 0 0"/>
      <geometry>
        <sphere radius="0.3"/>
      </geometry>
    </collision>
  </link>
  <gazebo reference="rear_left_wheel_19">
    <material>Gazebo/Red</material>
    <turnGravityOff>false</turnGravityOff>
  </gazebo>
  <gazebo reference="rear_left_wheel_19_joint">
    <cfm_damping>1</cfm_damping>
  </gazebo>
  <joint name="rear_left_wheel_19_joint" type="continuous">
    <parent link="rear_left_main_wheel"/>
    <child link="rear_left_wheel_19"/>
    <origin rpy="0 0 0" xyz="0.000000 -1.000000 0.000000"/>
    <axis xyz="0.707107 0.000000 -0.707107"/>
    <dynamics damping="1.0"/>
  </joint>
  <link name="rear_left_wheel_20">
    <inertial>
      <origin xyz="0 0 0"/>
      <mass value="1.0"/>
      <inertia ixx="1.0" ixy="0.0" ixz="0.0" iyy="1.0" iyz="0.0" izz="1.0"/>
    </inertial>
    <visual>
      <origin rpy="0 0 0" xyz="0 0 0"/>
      <geometry>
        <sphere radius="0.3"/>
      </geometry>
    </visual>
    <collision>
      <origin rpy="0 0 0 " xyz="0 0 0"/>
      <geometry>
        <sphere radius="0.3"/>
      </geometry>
    </collision>
  </link>
  <gazebo reference="rear_left_wheel_20">
    <material>Gazebo/Red</material>
    <turnGravityOff>false</turnGravityOff>
  </gazebo>
  <gazebo reference="rear_left_wheel_20_joint">
    <cfm_damping>1</cfm_damping>
  </gazebo>
  <joint name="rear_left_wheel_20_joint" type="continuous">
    <parent link="rear_left_main_wheel"/>
    <child link="rear_left_wheel_20"/>
    <origin rpy="0 0 0" xyz="0.258819 -0.965926 0.000000"/>
    <axis xyz="0.683013 0.183013 -0.707107"/>
    <dynamics damping="1.0"/>
  </joint>
  <link name="rear_left_wheel_21">
    <inertial>
      <origin xyz="0 0 0"/>
      <mass value="1.0"/>
      <inertia ixx="1.0" ixy="0.0" ixz="0.0" iyy="1.0" iyz="0.0" izz="1.0"/>
    </inertial>
    <visual>
      <origin rpy="0 0 0" xyz="0 0 0"/>
      <geometry>
        <sphere radius="0.3"/>
      </geometry>
    </visual>
    <collision>
      <origin rpy="0 0 0 " xyz="0 0 0"/>
      <geometry>
        <sphere radius="0.3"/>
      </geometry>
    </collision>
  </link>
  <gazebo reference="rear_left_wheel_21">
    <material>Gazebo/Red</material>
    <turnGravityOff>false</turnGravityOff>
  </gazebo>
  <gazebo reference="rear_left_wheel_21_joint">
    <cfm_damping>1</cfm_damping>
  </gazebo>
  <joint name="rear_left_wheel_21_joint" type="continuous">
    <parent link="rear_left_main_wheel"/>
    <child link="rear_left_wheel_21"/>
    <origin rpy="0 0 0" xyz="0.500000 -0.866025 0.000000"/>
    <axis xyz="0.612372 0.353553 -0.707107"/>
    <dynamics damping="1.0"/>
  </joint>
  <link name="rear_left_wheel_22">
    <inertial>
      <origin xyz="0 0 0"/>
      <mass value="1.0"/>
      <inertia ixx="1.0" ixy="0.0" ixz="0.0" iyy="1.0" iyz="0.0" izz="1.0"/>
    </inertial>
    <visual>
      <origin rpy="0 0 0" xyz="0 0 0"/>
      <geometry>
        <sphere radius="0.3"/>
      </geometry>
    </visual>
    <collision>
      <origin rpy="0 0 0 " xyz="0 0 0"/>
      <geometry>
        <sphere radius="0.3"/>
      </geometry>
    </collision>
  </link>
  <gazebo reference="rear_left_wheel_22">
    <material>Gazebo/Red</material>
    <turnGravityOff>false</turnGravityOff>
  </gazebo>
  <gazebo reference="rear_left_wheel_22_joint">
    <cfm_damping>1</cfm_damping>
  </gazebo>
  <joint name="rear_left_wheel_22_joint" type="continuous">
    <parent link="rear_left_main_wheel"/>
    <child link="rear_left_wheel_22"/>
    <origin rpy="0 0 0" xyz="0.707107 -0.707107 0.000000"/>
    <axis xyz="0.500000 0.500000 -0.707107"/>
    <dynamics damping="1.0"/>
  </joint>
  <link name="rear_left_wheel_23">
    <inertial>
      <origin xyz="0 0 0"/>
      <mass value="1.0"/>
      <inertia ixx="1.0" ixy="0.0" ixz="0.0" iyy="1.0" iyz="0.0" izz="1.0"/>
    </inertial>
    <visual>
      <origin rpy="0 0 0" xyz="0 0 0"/>
      <geometry>
        <sphere radius="0.3"/>
      </geometry>
    </visual>
    <collision>
      <origin rpy="0 0 0 " xyz="0 0 0"/>
      <geometry>
        <sphere radius="0.3"/>
      </geometry>
    </collision>
  </link>
  <gazebo reference="rear_left_wheel_23">
    <material>Gazebo/Red</material>
    <turnGravityOff>false</turnGravityOff>
  </gazebo>
  <gazebo reference="rear_left_wheel_23_joint">
    <cfm_damping>1</cfm_damping>
  </gazebo>
  <joint name="rear_left_wheel_23_joint" type="continuous">
    <parent link="rear_left_main_wheel"/>
    <child link="rear_left_wheel_23"/>
    <origin rpy="0 0 0" xyz="0.866025 -0.500000 0.000000"/>
    <axis xyz="0.353553 0.612372 -0.707107"/>
    <dynamics damping="1.0"/>
  </joint>
  <link name="rear_left_wheel_24">
    <inertial>
      <origin xyz="0 0 0"/>
      <mass value="1.0"/>
      <inertia ixx="1.0" ixy="0.0" ixz="0.0" iyy="1.0" iyz="0.0" izz="1.0"/>
    </inertial>
    <visual>
      <origin rpy="0 0 0" xyz="0 0 0"/>
      <geometry>
        <sphere radius="0.3"/>
      </geometry>
    </visual>
    <collision>
      <origin rpy="0 0 0 " xyz="0 0 0"/>
      <geometry>
        <sphere radius="0.3"/>
      </geometry>
    </collision>
  </link>
  <gazebo reference="rear_left_wheel_24">
    <material>Gazebo/Red</material>
    <turnGravityOff>false</turnGravityOff>
  </gazebo>
  <gazebo reference="rear_left_wheel_24_joint">
    <cfm_damping>1</cfm_damping>
  </gazebo>
  <joint name="rear_left_wheel_24_joint" type="continuous">
    <parent link="rear_left_main_wheel"/>
    <child link="rear_left_wheel_24"/>
    <origin rpy="0 0 0" xyz="0.965926 -0.258819 0.000000"/>
    <axis xyz="0.183013 0.683013 -0.707107"/>
    <dynamics damping="1.0"/>
  </joint>
  <link name="rear_right_main_wheel">
    <inertial>
      <origin xyz="0 0 0"/>
      <mass value="1.0"/>
      <inertia ixx="1.0" ixy="0.0" ixz="0.0" iyy="1.0" iyz="0.0" izz="1.0"/>
    </inertial>
    <visual>
      <origin rpy="0 0 0" xyz="0 0 0"/>
      <geometry>
        <cylinder length="0.1" radius="1"/>
      </geometry>
    </visual>
    <collision>
      <origin rpy="0 0 0 " xyz="0 0 0"/>
      <geometry>
        <cylinder length="0.1" radius="1"/>
      </geometry>
    </collision>
  </link>
  <gazebo reference="rear_right_main_wheel_joint">
    <cfm_damping>1</cfm_damping>
  </gazebo>
  <joint name="rear_right_main_wheel_joint" type="continuous">
    <parent link="base"/>
    <child link="rear_right_main_wheel"/>
    <axis xyz="0 0 1"/>
    <origin rpy="1.57079632679 0 0" xyz="-2 -2 0"/>
    <dynamics damping="1.0"/>
  </joint>
  <gazebo reference="main_wheel">
    <material>Gazebo/Blue</material>
    <turnGravityOff>false</turnGravityOff>
  </gazebo>
  <link name="rear_right_wheel_1">
    <inertial>
      <origin xyz="0 0 0"/>
      <mass value="1.0"/>
      <inertia ixx="1.0" ixy="0.0" ixz="0.0" iyy="1.0" iyz="0.0" izz="1.0"/>
    </inertial>
    <visual>
      <origin rpy="0 0 0" xyz="0 0 0"/>
      <geometry>
        <sphere radius="0.3"/>
      </geometry>
    </visual>
    <collision>
      <origin rpy="0 0 0 " xyz="0 0 0"/>
      <geometry>
        <sphere radius="0.3"/>
      </geometry>
    </collision>
  </link>
  <gazebo reference="rear_right_wheel_1">
    <material>Gazebo/Red</material>
    <turnGravityOff>false</turnGravityOff>
  </gazebo>
  <gazebo reference="rear_right_wheel_1_joint">
    <cfm_damping>1</cfm_damping>
  </gazebo>
  <joint name="rear_right_wheel_1_joint" type="continuous">
    <parent link="rear_right_main_wheel"/>
    <child link="rear_right_wheel_1"/>
    <origin rpy="0 0 0" xyz="1.000000 0.000000 0.000000"/>
    <axis xyz="0.000000 0.707107 0.707107"/>
    <dynamics damping="1.0"/>
  </joint>
  <link name="rear_right_wheel_2">
    <inertial>
      <origin xyz="0 0 0"/>
      <mass value="1.0"/>
      <inertia ixx="1.0" ixy="0.0" ixz="0.0" iyy="1.0" iyz="0.0" izz="1.0"/>
    </inertial>
    <visual>
      <origin rpy="0 0 0" xyz="0 0 0"/>
      <geometry>
        <sphere radius="0.3"/>
      </geometry>
    </visual>
    <collision>
      <origin rpy="0 0 0 " xyz="0 0 0"/>
      <geometry>
        <sphere radius="0.3"/>
      </geometry>
    </collision>
  </link>
  <gazebo reference="rear_right_wheel_2">
    <material>Gazebo/Red</material>
    <turnGravityOff>false</turnGravityOff>
  </gazebo>
  <gazebo reference="rear_right_wheel_2_joint">
    <cfm_damping>1</cfm_damping>
  </gazebo>
  <joint name="rear_right_wheel_2_joint" type="continuous">
    <parent link="rear_right_main_wheel"/>
    <child link="rear_right_wheel_2"/>
    <origin rpy="0 0 0" xyz="0.965926 0.258819 0.000000"/>
    <axis xyz="-0.183013 0.683013 0.707107"/>
    <dynamics damping="1.0"/>
  </joint>
  <link name="rear_right_wheel_3">
    <inertial>
      <origin xyz="0 0 0"/>
      <mass value="1.0"/>
      <inertia ixx="1.0" ixy="0.0" ixz="0.0" iyy="1.0" iyz="0.0" izz="1.0"/>
    </inertial>
    <visual>
      <origin rpy="0 0 0" xyz="0 0 0"/>
      <geometry>
        <sphere radius="0.3"/>
      </geometry>
    </visual>
    <collision>
      <origin rpy="0 0 0 " xyz="0 0 0"/>
      <geometry>
        <sphere radius="0.3"/>
      </geometry>
    </collision>
  </link>
  <gazebo reference="rear_right_wheel_3">
    <material>Gazebo/Red</material>
    <turnGravityOff>false</turnGravityOff>
  </gazebo>
  <gazebo reference="rear_right_wheel_3_joint">
    <cfm_damping>1</cfm_damping>
  </gazebo>
  <joint name="rear_right_wheel_3_joint" type="continuous">
    <parent link="rear_right_main_wheel"/>
    <child link="rear_right_wheel_3"/>
    <origin rpy="0 0 0" xyz="0.866025 0.500000 0.000000"/>
    <axis xyz="-0.353553 0.612372 0.707107"/>
    <dynamics damping="1.0"/>
  </joint>
  <link name="rear_right_wheel_4">
    <inertial>
      <origin xyz="0 0 0"/>
      <mass value="1.0"/>
      <inertia ixx="1.0" ixy="0.0" ixz="0.0" iyy="1.0" iyz="0.0" izz="1.0"/>
    </inertial>
    <visual>
      <origin rpy="0 0 0" xyz="0 0 0"/>
      <geometry>
        <sphere radius="0.3"/>
      </geometry>
    </visual>
    <collision>
      <origin rpy="0 0 0 " xyz="0 0 0"/>
      <geometry>
        <sphere radius="0.3"/>
      </geometry>
    </collision>
  </link>
  <gazebo reference="rear_right_wheel_4">
    <material>Gazebo/Red</material>
    <turnGravityOff>false</turnGravityOff>
  </gazebo>
  <gazebo reference="rear_right_wheel_4_joint">
    <cfm_damping>1</cfm_damping>
  </gazebo>
  <joint name="rear_right_wheel_4_joint" type="continuous">
    <parent link="rear_right_main_wheel"/>
    <child link="rear_right_wheel_4"/>
    <origin rpy="0 0 0" xyz="0.707107 0.707107 0.000000"/>
    <axis xyz="-0.500000 0.500000 0.707107"/>
    <dynamics damping="1.0"/>
  </joint>
  <link name="rear_right_wheel_5">
    <inertial>
      <origin xyz="0 0 0"/>
      <mass value="1.0"/>
      <inertia ixx="1.0" ixy="0.0" ixz="0.0" iyy="1.0" iyz="0.0" izz="1.0"/>
    </inertial>
    <visual>
      <origin rpy="0 0 0" xyz="0 0 0"/>
      <geometry>
        <sphere radius="0.3"/>
      </geometry>
    </visual>
    <collision>
      <origin rpy="0 0 0 " xyz="0 0 0"/>
      <geometry>
        <sphere radius="0.3"/>
      </geometry>
    </collision>
  </link>
  <gazebo reference="rear_right_wheel_5">
    <material>Gazebo/Red</material>
    <turnGravityOff>false</turnGravityOff>
  </gazebo>
  <gazebo reference="rear_right_wheel_5_joint">
    <cfm_damping>1</cfm_damping>
  </gazebo>
  <joint name="rear_right_wheel_5_joint" type="continuous">
    <parent link="rear_right_main_wheel"/>
    <child link="rear_right_wheel_5"/>
    <origin rpy="0 0 0" xyz="0.500000 0.866025 0.000000"/>
    <axis xyz="-0.612372 0.353553 0.707107"/>
    <dynamics damping="1.0"/>
  </joint>
  <link name="rear_right_wheel_6">
    <inertial>
      <origin xyz="0 0 0"/>
      <mass value="1.0"/>
      <inertia ixx="1.0" ixy="0.0" ixz="0.0" iyy="1.0" iyz="0.0" izz="1.0"/>
    </inertial>
    <visual>
      <origin rpy="0 0 0" xyz="0 0 0"/>
      <geometry>
        <sphere radius="0.3"/>
      </geometry>
    </visual>
    <collision>
      <origin rpy="0 0 0 " xyz="0 0 0"/>
      <geometry>
        <sphere radius="0.3"/>
      </geometry>
    </collision>
  </link>
  <gazebo reference="rear_right_wheel_6">
    <material>Gazebo/Red</material>
    <turnGravityOff>false</turnGravityOff>
  </gazebo>
  <gazebo reference="rear_right_wheel_6_joint">
    <cfm_damping>1</cfm_damping>
  </gazebo>
  <joint name="rear_right_wheel_6_joint" type="continuous">
    <parent link="rear_right_main_wheel"/>
    <child link="rear_right_wheel_6"/>
    <origin rpy="0 0 0" xyz="0.258819 0.965926 0.000000"/>
    <axis xyz="-0.683013 0.183013 0.707107"/>
    <dynamics damping="1.0"/>
  </joint>
  <link name="rear_right_wheel_7">
    <inertial>
      <origin xyz="0 0 0"/>
      <mass value="1.0"/>
      <inertia ixx="1.0" ixy="0.0" ixz="0.0" iyy="1.0" iyz="0.0" izz="1.0"/>
    </inertial>
    <visual>
      <origin rpy="0 0 0" xyz="0 0 0"/>
      <geometry>
        <sphere radius="0.3"/>
      </geometry>
    </visual>
    <collision>
      <origin rpy="0 0 0 " xyz="0 0 0"/>
      <geometry>
        <sphere radius="0.3"/>
      </geometry>
    </collision>
  </link>
  <gazebo reference="rear_right_wheel_7">
    <material>Gazebo/Red</material>
    <turnGravityOff>false</turnGravityOff>
  </gazebo>
  <gazebo reference="rear_right_wheel_7_joint">
    <cfm_damping>1</cfm_damping>
  </gazebo>
  <joint name="rear_right_wheel_7_joint" type="continuous">
    <parent link="rear_right_main_wheel"/>
    <child link="rear_right_wheel_7"/>
    <origin rpy="0 0 0" xyz="0.000000 1.000000 0.000000"/>
    <axis xyz="-0.707107 0.000000 0.707107"/>
    <dynamics damping="1.0"/>
  </joint>
  <link name="rear_right_wheel_8">
    <inertial>
      <origin xyz="0 0 0"/>
      <mass value="1.0"/>
      <inertia ixx="1.0" ixy="0.0" ixz="0.0" iyy="1.0" iyz="0.0" izz="1.0"/>
    </inertial>
    <visual>
      <origin rpy="0 0 0" xyz="0 0 0"/>
      <geometry>
        <sphere radius="0.3"/>
      </geometry>
    </visual>
    <collision>
      <origin rpy="0 0 0 " xyz="0 0 0"/>
      <geometry>
        <sphere radius="0.3"/>
      </geometry>
    </collision>
  </link>
  <gazebo reference="rear_right_wheel_8">
    <material>Gazebo/Red</material>
    <turnGravityOff>false</turnGravityOff>
  </gazebo>
  <gazebo reference="rear_right_wheel_8_joint">
    <cfm_damping>1</cfm_damping>
  </gazebo>
  <joint name="rear_right_wheel_8_joint" type="continuous">
    <parent link="rear_right_main_wheel"/>
    <child link="rear_right_wheel_8"/>
    <origin rpy="0 0 0" xyz="-0.258819 0.965926 0.000000"/>
    <axis xyz="-0.683013 -0.183013 0.707107"/>
    <dynamics damping="1.0"/>
  </joint>
  <link name="rear_right_wheel_9">
    <inertial>
      <origin xyz="0 0 0"/>
      <mass value="1.0"/>
      <inertia ixx="1.0" ixy="0.0" ixz="0.0" iyy="1.0" iyz="0.0" izz="1.0"/>
    </inertial>
    <visual>
      <origin rpy="0 0 0" xyz="0 0 0"/>
      <geometry>
        <sphere radius="0.3"/>
      </geometry>
    </visual>
    <collision>
      <origin rpy="0 0 0 " xyz="0 0 0"/>
      <geometry>
        <sphere radius="0.3"/>
      </geometry>
    </collision>
  </link>
  <gazebo reference="rear_right_wheel_9">
    <material>Gazebo/Red</material>
    <turnGravityOff>false</turnGravityOff>
  </gazebo>
  <gazebo reference="rear_right_wheel_9_joint">
    <cfm_damping>1</cfm_damping>
  </gazebo>
  <joint name="rear_right_wheel_9_joint" type="continuous">
    <parent link="rear_right_main_wheel"/>
    <child link="rear_right_wheel_9"/>
    <origin rpy="0 0 0" xyz="-0.500000 0.866025 0.000000"/>
    <axis xyz="-0.612372 -0.353553 0.707107"/>
    <dynamics damping="1.0"/>
  </joint>
  <link name="rear_right_wheel_10">
    <inertial>
      <origin xyz="0 0 0"/>
      <mass value="1.0"/>
      <inertia ixx="1.0" ixy="0.0" ixz="0.0" iyy="1.0" iyz="0.0" izz="1.0"/>
    </inertial>
    <visual>
      <origin rpy="0 0 0" xyz="0 0 0"/>
      <geometry>
        <sphere radius="0.3"/>
      </geometry>
    </visual>
    <collision>
      <origin rpy="0 0 0 " xyz="0 0 0"/>
      <geometry>
        <sphere radius="0.3"/>
      </geometry>
    </collision>
  </link>
  <gazebo reference="rear_right_wheel_10">
    <material>Gazebo/Red</material>
    <turnGravityOff>false</turnGravityOff>
  </gazebo>
  <gazebo reference="rear_right_wheel_10_joint">
    <cfm_damping>1</cfm_damping>
  </gazebo>
  <joint name="rear_right_wheel_10_joint" type="continuous">
    <parent link="rear_right_main_wheel"/>
    <child link="rear_right_wheel_10"/>
    <origin rpy="0 0 0" xyz="-0.707107 0.707107 0.000000"/>
    <axis xyz="-0.500000 -0.500000 0.707107"/>
    <dynamics damping="1.0"/>
  </joint>
  <link name="rear_right_wheel_11">
    <inertial>
      <origin xyz="0 0 0"/>
      <mass value="1.0"/>
      <inertia ixx="1.0" ixy="0.0" ixz="0.0" iyy="1.0" iyz="0.0" izz="1.0"/>
    </inertial>
    <visual>
      <origin rpy="0 0 0" xyz="0 0 0"/>
      <geometry>
        <sphere radius="0.3"/>
      </geometry>
    </visual>
    <collision>
      <origin rpy="0 0 0 " xyz="0 0 0"/>
      <geometry>
        <sphere radius="0.3"/>
      </geometry>
    </collision>
  </link>
  <gazebo reference="rear_right_wheel_11">
    <material>Gazebo/Red</material>
    <turnGravityOff>false</turnGravityOff>
  </gazebo>
  <gazebo reference="rear_right_wheel_11_joint">
    <cfm_damping>1</cfm_damping>
  </gazebo>
  <joint name="rear_right_wheel_11_joint" type="continuous">
    <parent link="rear_right_main_wheel"/>
    <child link="rear_right_wheel_11"/>
    <origin rpy="0 0 0" xyz="-0.866025 0.500000 0.000000"/>
    <axis xyz="-0.353553 -0.612372 0.707107"/>
    <dynamics damping="1.0"/>
  </joint>
  <link name="rear_right_wheel_12">
    <inertial>
      <origin xyz="0 0 0"/>
      <mass value="1.0"/>
      <inertia ixx="1.0" ixy="0.0" ixz="0.0" iyy="1.0" iyz="0.0" izz="1.0"/>
    </inertial>
    <visual>
      <origin rpy="0 0 0" xyz="0 0 0"/>
      <geometry>
        <sphere radius="0.3"/>
      </geometry>
    </visual>
    <collision>
      <origin rpy="0 0 0 " xyz="0 0 0"/>
      <geometry>
        <sphere radius="0.3"/>
      </geometry>
    </collision>
  </link>
  <gazebo reference="rear_right_wheel_12">
    <material>Gazebo/Red</material>
    <turnGravityOff>false</turnGravityOff>
  </gazebo>
  <gazebo reference="rear_right_wheel_12_joint">
    <cfm_damping>1</cfm_damping>
  </gazebo>
  <joint name="rear_right_wheel_12_joint" type="continuous">
    <parent link="rear_right_main_wheel"/>
    <child link="rear_right_wheel_12"/>
    <origin rpy="0 0 0" xyz="-0.965926 0.258819 0.000000"/>
    <axis xyz="-0.183013 -0.683013 0.707107"/>
    <dynamics damping="1.0"/>
  </joint>
  <link name="rear_right_wheel_13">
    <inertial>
      <origin xyz="0 0 0"/>
      <mass value="1.0"/>
      <inertia ixx="1.0" ixy="0.0" ixz="0.0" iyy="1.0" iyz="0.0" izz="1.0"/>
    </inertial>
    <visual>
      <origin rpy="0 0 0" xyz="0 0 0"/>
      <geometry>
        <sphere radius="0.3"/>
      </geometry>
    </visual>
    <collision>
      <origin rpy="0 0 0 " xyz="0 0 0"/>
      <geometry>
        <sphere radius="0.3"/>
      </geometry>
    </collision>
  </link>
  <gazebo reference="rear_right_wheel_13">
    <material>Gazebo/Red</material>
    <turnGravityOff>false</turnGravityOff>
  </gazebo>
  <gazebo reference="rear_right_wheel_13_joint">
    <cfm_damping>1</cfm_damping>
  </gazebo>
  <joint name="rear_right_wheel_13_joint" type="continuous">
    <parent link="rear_right_main_wheel"/>
    <child link="rear_right_wheel_13"/>
    <origin rpy="0 0 0" xyz="-1.000000 0.000000 0.000000"/>
    <axis xyz="0.000000 -0.707107 0.707107"/>
    <dynamics damping="1.0"/>
  </joint>
  <link name="rear_right_wheel_14">
    <inertial>
      <origin xyz="0 0 0"/>
      <mass value="1.0"/>
      <inertia ixx="1.0" ixy="0.0" ixz="0.0" iyy="1.0" iyz="0.0" izz="1.0"/>
    </inertial>
    <visual>
      <origin rpy="0 0 0" xyz="0 0 0"/>
      <geometry>
        <sphere radius="0.3"/>
      </geometry>
    </visual>
    <collision>
      <origin rpy="0 0 0 " xyz="0 0 0"/>
      <geometry>
        <sphere radius="0.3"/>
      </geometry>
    </collision>
  </link>
  <gazebo reference="rear_right_wheel_14">
    <material>Gazebo/Red</material>
    <turnGravityOff>false</turnGravityOff>
  </gazebo>
  <gazebo reference="rear_right_wheel_14_joint">
    <cfm_damping>1</cfm_damping>
  </gazebo>
  <joint name="rear_right_wheel_14_joint" type="continuous">
    <parent link="rear_right_main_wheel"/>
    <child link="rear_right_wheel_14"/>
    <origin rpy="0 0 0" xyz="-0.965926 -0.258819 0.000000"/>
    <axis xyz="0.183013 -0.683013 0.707107"/>
    <dynamics damping="1.0"/>
  </joint>
  <link name="rear_right_wheel_15">
    <inertial>
      <origin xyz="0 0 0"/>
      <mass value="1.0"/>
      <inertia ixx="1.0" ixy="0.0" ixz="0.0" iyy="1.0" iyz="0.0" izz="1.0"/>
    </inertial>
    <visual>
      <origin rpy="0 0 0" xyz="0 0 0"/>
      <geometry>
        <sphere radius="0.3"/>
      </geometry>
    </visual>
    <collision>
      <origin rpy="0 0 0 " xyz="0 0 0"/>
      <geometry>
        <sphere radius="0.3"/>
      </geometry>
    </collision>
  </link>
  <gazebo reference="rear_right_wheel_15">
    <material>Gazebo/Red</material>
    <turnGravityOff>false</turnGravityOff>
  </gazebo>
  <gazebo reference="rear_right_wheel_15_joint">
    <cfm_damping>1</cfm_damping>
  </gazebo>
  <joint name="rear_right_wheel_15_joint" type="continuous">
    <parent link="rear_right_main_wheel"/>
    <child link="rear_right_wheel_15"/>
    <origin rpy="0 0 0" xyz="-0.866025 -0.500000 0.000000"/>
    <axis xyz="0.353553 -0.612372 0.707107"/>
    <dynamics damping="1.0"/>
  </joint>
  <link name="rear_right_wheel_16">
    <inertial>
      <origin xyz="0 0 0"/>
      <mass value="1.0"/>
      <inertia ixx="1.0" ixy="0.0" ixz="0.0" iyy="1.0" iyz="0.0" izz="1.0"/>
    </inertial>
    <visual>
      <origin rpy="0 0 0" xyz="0 0 0"/>
      <geometry>
        <sphere radius="0.3"/>
      </geometry>
    </visual>
    <collision>
      <origin rpy="0 0 0 " xyz="0 0 0"/>
      <geometry>
        <sphere radius="0.3"/>
      </geometry>
    </collision>
  </link>
  <gazebo reference="rear_right_wheel_16">
    <material>Gazebo/Red</material>
    <turnGravityOff>false</turnGravityOff>
  </gazebo>
  <gazebo reference="rear_right_wheel_16_joint">
    <cfm_damping>1</cfm_damping>
  </gazebo>
  <joint name="rear_right_wheel_16_joint" type="continuous">
    <parent link="rear_right_main_wheel"/>
    <child link="rear_right_wheel_16"/>
    <origin rpy="0 0 0" xyz="-0.707107 -0.707107 0.000000"/>
    <axis xyz="0.500000 -0.500000 0.707107"/>
    <dynamics damping="1.0"/>
  </joint>
  <link name="rear_right_wheel_17">
    <inertial>
      <origin xyz="0 0 0"/>
      <mass value="1.0"/>
      <inertia ixx="1.0" ixy="0.0" ixz="0.0" iyy="1.0" iyz="0.0" izz="1.0"/>
    </inertial>
    <visual>
      <origin rpy="0 0 0" xyz="0 0 0"/>
      <geometry>
        <sphere radius="0.3"/>
      </geometry>
    </visual>
    <collision>
      <origin rpy="0 0 0 " xyz="0 0 0"/>
      <geometry>
        <sphere radius="0.3"/>
      </geometry>
    </collision>
  </link>
  <gazebo reference="rear_right_wheel_17">
    <material>Gazebo/Red</material>
    <turnGravityOff>false</turnGravityOff>
  </gazebo>
  <gazebo reference="rear_right_wheel_17_joint">
    <cfm_damping>1</cfm_damping>
  </gazebo>
  <joint name="rear_right_wheel_17_joint" type="continuous">
    <parent link="rear_right_main_wheel"/>
    <child link="rear_right_wheel_17"/>
    <origin rpy="0 0 0" xyz="-0.500000 -0.866025 0.000000"/>
    <axis xyz="0.612372 -0.353553 0.707107"/>
    <dynamics damping="1.0"/>
  </joint>
  <link name="rear_right_wheel_18">
    <inertial>
      <origin xyz="0 0 0"/>
      <mass value="1.0"/>
      <inertia ixx="1.0" ixy="0.0" ixz="0.0" iyy="1.0" iyz="0.0" izz="1.0"/>
    </inertial>
    <visual>
      <origin rpy="0 0 0" xyz="0 0 0"/>
      <geometry>
        <sphere radius="0.3"/>
      </geometry>
    </visual>
    <collision>
      <origin rpy="0 0 0 " xyz="0 0 0"/>
      <geometry>
        <sphere radius="0.3"/>
      </geometry>
    </collision>
  </link>
  <gazebo reference="rear_right_wheel_18">
    <material>Gazebo/Red</material>
    <turnGravityOff>false</turnGravityOff>
  </gazebo>
  <gazebo reference="rear_right_wheel_18_joint">
    <cfm_damping>1</cfm_damping>
  </gazebo>
  <joint name="rear_right_wheel_18_joint" type="continuous">
    <parent link="rear_right_main_wheel"/>
    <child link="rear_right_wheel_18"/>
    <origin rpy="0 0 0" xyz="-0.258819 -0.965926 0.000000"/>
    <axis xyz="0.683013 -0.183013 0.707107"/>
    <dynamics damping="1.0"/>
  </joint>
  <link name="rear_right_wheel_19">
    <inertial>
      <origin xyz="0 0 0"/>
      <mass value="1.0"/>
      <inertia ixx="1.0" ixy="0.0" ixz="0.0" iyy="1.0" iyz="0.0" izz="1.0"/>
    </inertial>
    <visual>
      <origin rpy="0 0 0" xyz="0 0 0"/>
      <geometry>
        <sphere radius="0.3"/>
      </geometry>
    </visual>
    <collision>
      <origin rpy="0 0 0 " xyz="0 0 0"/>
      <geometry>
        <sphere radius="0.3"/>
      </geometry>
    </collision>
  </link>
  <gazebo reference="rear_right_wheel_19">
    <material>Gazebo/Red</material>
    <turnGravityOff>false</turnGravityOff>
  </gazebo>
  <gazebo reference="rear_right_wheel_19_joint">
    <cfm_damping>1</cfm_damping>
  </gazebo>
  <joint name="rear_right_wheel_19_joint" type="continuous">
    <parent link="rear_right_main_wheel"/>
    <child link="rear_right_wheel_19"/>
    <origin rpy="0 0 0" xyz="0.000000 -1.000000 0.000000"/>
    <axis xyz="0.707107 0.000000 0.707107"/>
    <dynamics damping="1.0"/>
  </joint>
  <link name="rear_right_wheel_20">
    <inertial>
      <origin xyz="0 0 0"/>
      <mass value="1.0"/>
      <inertia ixx="1.0" ixy="0.0" ixz="0.0" iyy="1.0" iyz="0.0" izz="1.0"/>
    </inertial>
    <visual>
      <origin rpy="0 0 0" xyz="0 0 0"/>
      <geometry>
        <sphere radius="0.3"/>
      </geometry>
    </visual>
    <collision>
      <origin rpy="0 0 0 " xyz="0 0 0"/>
      <geometry>
        <sphere radius="0.3"/>
      </geometry>
    </collision>
  </link>
  <gazebo reference="rear_right_wheel_20">
    <material>Gazebo/Red</material>
    <turnGravityOff>false</turnGravityOff>
  </gazebo>
  <gazebo reference="rear_right_wheel_20_joint">
    <cfm_damping>1</cfm_damping>
  </gazebo>
  <joint name="rear_right_wheel_20_joint" type="continuous">
    <parent link="rear_right_main_wheel"/>
    <child link="rear_right_wheel_20"/>
    <origin rpy="0 0 0" xyz="0.258819 -0.965926 0.000000"/>
    <axis xyz="0.683013 0.183013 0.707107"/>
    <dynamics damping="1.0"/>
  </joint>
  <link name="rear_right_wheel_21">
    <inertial>
      <origin xyz="0 0 0"/>
      <mass value="1.0"/>
      <inertia ixx="1.0" ixy="0.0" ixz="0.0" iyy="1.0" iyz="0.0" izz="1.0"/>
    </inertial>
    <visual>
      <origin rpy="0 0 0" xyz="0 0 0"/>
      <geometry>
        <sphere radius="0.3"/>
      </geometry>
    </visual>
    <collision>
      <origin rpy="0 0 0 " xyz="0 0 0"/>
      <geometry>
        <sphere radius="0.3"/>
      </geometry>
    </collision>
  </link>
  <gazebo reference="rear_right_wheel_21">
    <material>Gazebo/Red</material>
    <turnGravityOff>false</turnGravityOff>
  </gazebo>
  <gazebo reference="rear_right_wheel_21_joint">
    <cfm_damping>1</cfm_damping>
  </gazebo>
  <joint name="rear_right_wheel_21_joint" type="continuous">
    <parent link="rear_right_main_wheel"/>
    <child link="rear_right_wheel_21"/>
    <origin rpy="0 0 0" xyz="0.500000 -0.866025 0.000000"/>
    <axis xyz="0.612372 0.353553 0.707107"/>
    <dynamics damping="1.0"/>
  </joint>
  <link name="rear_right_wheel_22">
    <inertial>
      <origin xyz="0 0 0"/>
      <mass value="1.0"/>
      <inertia ixx="1.0" ixy="0.0" ixz="0.0" iyy="1.0" iyz="0.0" izz="1.0"/>
    </inertial>
    <visual>
      <origin rpy="0 0 0" xyz="0 0 0"/>
      <geometry>
        <sphere radius="0.3"/>
      </geometry>
    </visual>
    <collision>
      <origin rpy="0 0 0 " xyz="0 0 0"/>
      <geometry>
        <sphere radius="0.3"/>
      </geometry>
    </collision>
  </link>
  <gazebo reference="rear_right_wheel_22">
    <material>Gazebo/Red</material>
    <turnGravityOff>false</turnGravityOff>
  </gazebo>
  <gazebo reference="rear_right_wheel_22_joint">
    <cfm_damping>1</cfm_damping>
  </gazebo>
  <joint name="rear_right_wheel_22_joint" type="continuous">
    <parent link="rear_right_main_wheel"/>
    <child link="rear_right_wheel_22"/>
    <origin rpy="0 0 0" xyz="0.707107 -0.707107 0.000000"/>
    <axis xyz="0.500000 0.500000 0.707107"/>
    <dynamics damping="1.0"/>
  </joint>
  <link name="rear_right_wheel_23">
    <inertial>
      <origin xyz="0 0 0"/>
      <mass value="1.0"/>
      <inertia ixx="1.0" ixy="0.0" ixz="0.0" iyy="1.0" iyz="0.0" izz="1.0"/>
    </inertial>
    <visual>
      <origin rpy="0 0 0" xyz="0 0 0"/>
      <geometry>
        <sphere radius="0.3"/>
      </geometry>
    </visual>
    <collision>
      <origin rpy="0 0 0 " xyz="0 0 0"/>
      <geometry>
        <sphere radius="0.3"/>
      </geometry>
    </collision>
  </link>
  <gazebo reference="rear_right_wheel_23">
    <material>Gazebo/Red</material>
    <turnGravityOff>false</turnGravityOff>
  </gazebo>
  <gazebo reference="rear_right_wheel_23_joint">
    <cfm_damping>1</cfm_damping>
  </gazebo>
  <joint name="rear_right_wheel_23_joint" type="continuous">
    <parent link="rear_right_main_wheel"/>
    <child link="rear_right_wheel_23"/>
    <origin rpy="0 0 0" xyz="0.866025 -0.500000 0.000000"/>
    <axis xyz="0.353553 0.612372 0.707107"/>
    <dynamics damping="1.0"/>
  </joint>
  <link name="rear_right_wheel_24">
    <inertial>
      <origin xyz="0 0 0"/>
      <mass value="1.0"/>
      <inertia ixx="1.0" ixy="0.0" ixz="0.0" iyy="1.0" iyz="0.0" izz="1.0"/>
    </inertial>
    <visual>
      <origin rpy="0 0 0" xyz="0 0 0"/>
      <geometry>
        <sphere radius="0.3"/>
      </geometry>
    </visual>
    <collision>
      <origin rpy="0 0 0 " xyz="0 0 0"/>
      <geometry>
        <sphere radius="0.3"/>
      </geometry>
    </collision>
  </link>
  <gazebo reference="rear_right_wheel_24">
    <material>Gazebo/Red</material>
    <turnGravityOff>false</turnGravityOff>
  </gazebo>
  <gazebo reference="rear_right_wheel_24_joint">
    <cfm_damping>1</cfm_damping>
  </gazebo>
  <joint name="rear_right_wheel_24_joint" type="continuous">
    <parent link="rear_right_main_wheel"/>
    <child link="rear_right_wheel_24"/>
    <origin rpy="0 0 0" xyz="0.965926 -0.258819 0.000000"/>
    <axis xyz="0.183013 0.683013 0.707107"/>
    <dynamics damping="1.0"/>
  </joint>
</robot>
